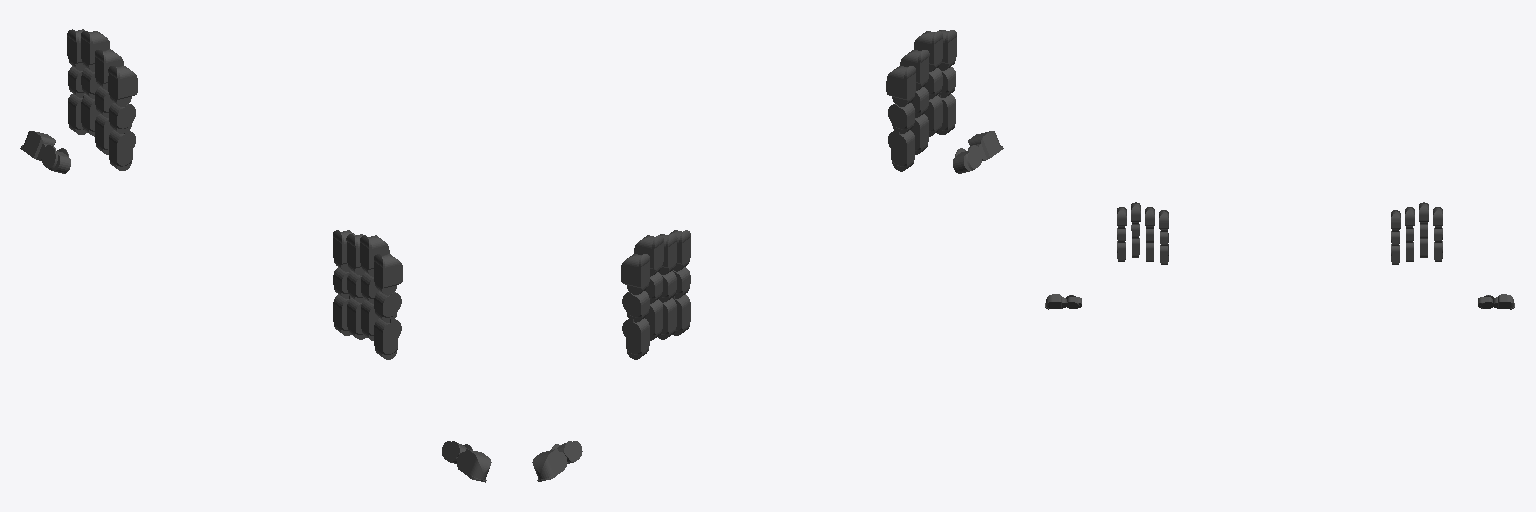
--- Render facts (derived) ---
The picture shows the robot from 3 angles, left to right: view 1: azimuth 30°, elevation 25°; view 2: azimuth 150°, elevation 25°; view 3: azimuth 270°, elevation 25°; orthographic projection.
Model softhand with 71 links and 70 joints (66 revolute, 4 fixed), rooted at world, posed all joints at 0.
Links seen in each view (by area): view 1: right_hand_v1_2_research_little_distal_link, left_hand_v1_2_research_index_distal_link, left_hand_v1_2_research_index_proximal_link, right_hand_v1_2_research_little_proximal_link, left_hand_v1_2_research_thumb_distal_link, left_hand_v1_2_research_middle_distal_link, right_hand_v1_2_research_middle_distal_link, right_hand_v1_2_research_ring_distal_link, left_hand_v1_2_research_index_middle_link, right_hand_v1_2_research_little_middle_link, right_hand_v1_2_research_thumb_proximal_link, right_hand_v1_2_research_thumb_distal_link (+3 smaller); view 2: left_hand_v1_2_research_little_distal_link, right_hand_v1_2_research_index_distal_link, right_hand_v1_2_research_index_proximal_link, left_hand_v1_2_research_little_proximal_link, right_hand_v1_2_research_thumb_distal_link, right_hand_v1_2_research_middle_distal_link, left_hand_v1_2_research_middle_distal_link, left_hand_v1_2_research_ring_distal_link, right_hand_v1_2_research_index_middle_link, left_hand_v1_2_research_little_middle_link, left_hand_v1_2_research_thumb_proximal_link, left_hand_v1_2_research_thumb_distal_link (+2 smaller); view 3: none.
Link boxes in pixels (x1,y1,x2,y2): right_hand_v1_2_research_little_distal_link: [108, 66, 137, 106]; left_hand_v1_2_research_index_distal_link: [374, 254, 402, 295]; left_hand_v1_2_research_index_proximal_link: [374, 318, 401, 359]; right_hand_v1_2_research_little_proximal_link: [109, 130, 135, 170]; left_hand_v1_2_research_thumb_distal_link: [457, 449, 491, 482]; left_hand_v1_2_research_middle_distal_link: [360, 235, 389, 276]; right_hand_v1_2_research_middle_distal_link: [81, 31, 109, 71]; right_hand_v1_2_research_ring_distal_link: [95, 49, 123, 90]; left_hand_v1_2_research_index_middle_link: [374, 291, 401, 322]; right_hand_v1_2_research_little_middle_link: [109, 103, 135, 133]; right_hand_v1_2_research_thumb_proximal_link: [42, 145, 70, 173]; right_hand_v1_2_research_thumb_distal_link: [20, 131, 55, 160]; left_hand_v1_2_research_little_distal_link: [886, 66, 915, 106]; right_hand_v1_2_research_index_distal_link: [621, 254, 649, 294]; right_hand_v1_2_research_index_proximal_link: [622, 318, 649, 359]; left_hand_v1_2_research_little_proximal_link: [888, 130, 914, 171]; right_hand_v1_2_research_thumb_distal_link: [532, 449, 567, 481]; right_hand_v1_2_research_middle_distal_link: [634, 235, 663, 276]; left_hand_v1_2_research_middle_distal_link: [914, 31, 942, 71]; left_hand_v1_2_research_ring_distal_link: [900, 50, 929, 90]; right_hand_v1_2_research_index_middle_link: [622, 291, 649, 322]; left_hand_v1_2_research_little_middle_link: [888, 103, 914, 133]; left_hand_v1_2_research_thumb_proximal_link: [953, 145, 981, 173]; left_hand_v1_2_research_thumb_distal_link: [968, 131, 1003, 160].
Size in the robot's own frame: 0.0373 by 0.6687 by 0.1549 metres.
28 mesh visuals loaded from 14 distinct referenced files (3 binary STL); not drawn: 14 (reference not matched to a file when rendering).

URDF robot description (softhand):
<?xml version="1.0" ?>
<!-- =================================================================================== -->
<!-- |    This document was autogenerated by xacro from softhands.urdf.xacro           | -->
<!-- |    EDITING THIS FILE BY HAND IS NOT RECOMMENDED                                 | -->
<!-- =================================================================================== -->
<!-- 
 *  Software License Agreement: BSD 3-Clause License
 *
 * Copyright (c) 2021, NMMI
 * All rights reserved.
 *
 * Redistribution and use in source and binary forms, with or without
 * modification, are permitted provided that the following conditions are met:
 *
 * Redistributions of source code must retain the above copyright notice, this
 * list of conditions and the following disclaimer.
 *
 * Redistributions in binary form must reproduce the above copyright notice,
 * this list of conditions and the following disclaimer in the documentation
 * and/or other materials provided with the distribution.
 *
 * Neither the name of the copyright holder nor the names of its
 * contributors may be used to endorse or promote products derived from
 * this software without specific prior written permission.
 *
 * THIS SOFTWARE IS PROVIDED BY THE COPYRIGHT HOLDERS AND CONTRIBUTORS "AS IS"
 * AND ANY EXPRESS OR IMPLIED WARRANTIES, INCLUDING, BUT NOT LIMITED TO, THE
 * IMPLIED WARRANTIES OF MERCHANTABILITY AND FITNESS FOR A PARTICULAR PURPOSE ARE
 * DISCLAIMED. IN NO EVENT SHALL THE COPYRIGHT HOLDER OR CONTRIBUTORS BE LIABLE
 * FOR ANY DIRECT, INDIRECT, INCIDENTAL, SPECIAL, EXEMPLARY, OR CONSEQUENTIAL
 * DAMAGES (INCLUDING, BUT NOT LIMITED TO, PROCUREMENT OF SUBSTITUTE GOODS OR
 * SERVICES; LOSS OF USE, DATA, OR PROFITS; OR BUSINESS INTERRUPTION) HOWEVER
 * CAUSED AND ON ANY THEORY OF LIABILITY, WHETHER IN CONTRACT, STRICT LIABILITY,
 * OR TORT (INCLUDING NEGLIGENCE OR OTHERWISE) ARISING IN ANY WAY OUT OF THE USE
 * OF THIS SOFTWARE, EVEN IF ADVISED OF THE POSSIBILITY OF SUCH DAMAGE.
 *
 * \file      test_SHs_v2.urdf.xacro
 *
 * \author       _Centro di Ricerca "E.Piaggio"_
 * \author       _Istituto Italiano di Tecnologia, Soft Robotics for Human Cooperation and Rehabilitation Lab_
 *
-->
<robot name="softhand">
  <material name="qbhand/optional">
    <color rgba="0.0 0.5 0.8 1.0"/>
  </material>
  <material name="qbhand/base">
    <color rgba="0.35 0.35 0.35 1.0"/>
  </material>
  <material name="qbhand/palm">
    <color rgba="0.35 0.35 0.35 1.0"/>
  </material>
  <material name="qbhand/knuckle">
    <color rgba="0.35 0.35 0.35 1.0"/>
  </material>
  <material name="qbhand/proximal">
    <color rgba="0.35 0.35 0.35 1.0"/>
  </material>
  <material name="qbhand/middle">
    <color rgba="0.35 0.35 0.35 1.0"/>
  </material>
  <material name="qbhand/distal">
    <color rgba="0.35 0.35 0.35 1.0"/>
  </material>
  <material name="qbhand/default">
    <color rgba="0.35 0.35 0.35 1.0"/>
  </material>
  <!-- If you are using only the hand -->
  <link name="world"/>
  <gazebo>
    <plugin filename="libsofthand_mimic_plugin.so" name="synergy_plugin">
      <namespace>left_hand_v1_2_research</namespace>
      <operation_mode>0</operation_mode>
      <spring_k>5</spring_k>
      <wide>False</wide>
      <r_finger>0.0033</r_finger>
      <R_pulley>0.0053</R_pulley>
      <n_param>0.058</n_param>
      <synS_thumb_j1>3</synS_thumb_j1>
      <synS_thumb_j2>1.2</synS_thumb_j2>
      <synS_thumb_j3>1.2</synS_thumb_j3>
      <k_thumb_j1>0.8</k_thumb_j1>
      <k_thumb_j2>0.8</k_thumb_j2>
      <k_thumb_j3>0.8</k_thumb_j3>
      <synS_index_j1>-0.3</synS_index_j1>
      <synS_index_j2>1.57</synS_index_j2>
      <synS_index_j3>1.25</synS_index_j3>
      <synS_index_j4>0.8</synS_index_j4>
      <k_index_j1>0.15</k_index_j1>
      <k_index_j2>0.5</k_index_j2>
      <k_index_j3>0.5</k_index_j3>
      <k_index_j4>0.5</k_index_j4>
      <synS_middle_j1>0</synS_middle_j1>
      <synS_middle_j2>1.57</synS_middle_j2>
      <synS_middle_j3>1.25</synS_middle_j3>
      <synS_middle_j4>1.25</synS_middle_j4>
      <k_middle_j1>0.15</k_middle_j1>
      <k_middle_j2>0.5</k_middle_j2>
      <k_middle_j3>0.5</k_middle_j3>
      <k_middle_j4>0.5</k_middle_j4>
      <synS_ring_j1>0</synS_ring_j1>
      <synS_ring_j2>1.57</synS_ring_j2>
      <synS_ring_j3>1.0</synS_ring_j3>
      <synS_ring_j4>1.0</synS_ring_j4>
      <k_ring_j1>0.15</k_ring_j1>
      <k_ring_j2>0.5</k_ring_j2>
      <k_ring_j3>0.5</k_ring_j3>
      <k_ring_j4>0.5</k_ring_j4>
      <synS_little_j1>0.1</synS_little_j1>
      <synS_little_j2>1.57</synS_little_j2>
      <synS_little_j3>1.25</synS_little_j3>
      <synS_little_j4>1.0</synS_little_j4>
      <k_little_j1>0.15</k_little_j1>
      <k_little_j2>0.5</k_little_j2>
      <k_little_j3>0.5</k_little_j3>
      <k_little_j4>0.5</k_little_j4>
      <!-- Palm thumb -->
      <synS_palm_j1>1.57</synS_palm_j1>
      <k_palm_j1>0.5</k_palm_j1>
      <k_palm_j1_mimic>0.5</k_palm_j1_mimic>
      <!-- Palm little -->
      <synS_palm_j2>1.57</synS_palm_j2>
      <k_palm_j2>0.5</k_palm_j2>
      <k_palm_j2_mimic>0.5</k_palm_j2_mimic>
    </plugin>
  </gazebo>
  <!-- World to palm base -->
  <joint name="left_hand_v1_2_research_iso_joint" type="fixed">
    <parent link="world"/>
    <child link="left_hand_v1_2_research_iso_link"/>
    <origin rpy="0 0 -1.57" xyz="0 -0.2 0.02"/>
  </joint>
  <link name="left_hand_v1_2_research_iso_link">
    <inertial>
      <mass value="0.205"/>
      <origin rpy="0 0 0" xyz="0.0 7.8738498e-04 1.5878899e-02"/>
      <inertia ixx="0.00012506929" ixy="0.0" ixz="0.0" iyy="0.0001338779" iyz="0.0" izz="0.00019218394"/>
    </inertial>
    <visual>
      <origin rpy="0 0 0" xyz="0 0 0"/>
      <geometry>
        <mesh filename="package://softhands_description/meshes/v1_2_research/left/flange_iso_04.stl" scale="0.001 0.001 0.001"/>
      </geometry>
      <material name="qbhand/base"/>
    </visual>
    <collision>
      <origin rpy="0 0 0" xyz="0 0 0"/>
      <geometry>
        <mesh filename="package://softhands_description/meshes/v1_2_research/left/flange_iso_04.stl" scale="0.001 0.001 0.001"/>
      </geometry>
    </collision>
  </link>
  <gazebo reference="left_hand_v1_2_research_iso_link">
    <material>Gazebo/Grey</material>
    <selfCollide>0</selfCollide>
  </gazebo>
  <joint name="left_hand_v1_2_research_palm_joint" type="fixed">
    <origin rpy="1.57 0  3.14" xyz="0.0045 0.0145 0.144"/>
    <parent link="left_hand_v1_2_research_iso_link"/>
    <child link="left_hand_v1_2_research_palm_link"/>
  </joint>
  <link name="left_hand_v1_2_research_palm_link">
    <inertial>
      <origin rpy="0 0 0" xyz="0.0030 -0.0449 -0.0135"/>
      <mass value="0.45"/>
      <inertia ixx="0.00045" ixy="0.0" ixz="0.0" iyy="0.00025" iyz="0.0" izz="0.0006"/>
    </inertial>
    <visual>
      <origin rpy="0 0 0" xyz="0 0 0"/>
      <geometry>
        <mesh filename="package://softhands_description/meshes/v1_2_research/left/palm_pinch.stl" scale="0.001 0.001 0.001"/>
      </geometry>
      <material name="qbhand/palm"/>
    </visual>
    <collision>
      <origin rpy="0 0 0" xyz="0 0 0"/>
      <geometry>
        <mesh filename="package://softhands_description/meshes/v1_2_research/left/palm_pinch.stl" scale="0.001 0.001 0.001"/>
      </geometry>
    </collision>
  </link>
  <gazebo reference="left_hand_v1_2_research_palm_link">
    <material>Gazebo/Grey</material>
    <selfCollide>0</selfCollide>
  </gazebo>
  <!-- Proximal JOINT -->
  <joint name="left_hand_v1_2_research_thumb_knuckle_joint" type="revolute">
    <origin rpy="-1.57 3.14 0.0" xyz="-0.044 -0.0465 0.002"/>
    <parent link="left_hand_v1_2_research_palm_link"/>
    <child link="left_hand_v1_2_research_thumb_knuckle_link"/>
    <axis xyz="0 0 1"/>
    <limit effort="30" lower="0.0" upper="1.57" velocity="10.0"/>
    <dynamics damping="3e-2" friction="0.0"/>
  </joint>
  <!-- LINK -->
  <link name="left_hand_v1_2_research_thumb_knuckle_link">
    <inertial>
      <origin rpy="0 0 0" xyz="1.3071561e-02 0.002734634 6.4090487e-04"/>
      <mass value="0.01"/>
      <inertia ixx="3.5865978e-07" ixy="-2.0944224e-07" ixz="-6.8657569e-08" iyy="1.3885564e-06" iyz="-3.2170608e-08" izz="1.3571203e-06"/>
    </inertial>
    <visual>
      <origin rpy="0 0 0" xyz="0 0 0"/>
      <geometry>
        <mesh filename="package://softhands_description/meshes/v1_2_research/left/ph_thumb.stl" scale="0.001 0.001 0.001"/>
      </geometry>
      <material name="qbhand/knuckle"/>
    </visual>
    <collision>
      <origin rpy="0 0 0" xyz="0 0 0"/>
      <geometry>
        <mesh filename="package://softhands_description/meshes/v1_2_research/left/ph_thumb.stl" scale="0.001 0.001 0.001"/>
      </geometry>
    </collision>
  </link>
  <!-- GAZEBO REF -->
  <gazebo reference="left_hand_v1_2_research_thumb_knuckle_link">
    <material>Gazebo/Grey</material>
    <selfCollide>0</selfCollide>
  </gazebo>
  <!-- GAZEBO REF -->
  <gazebo reference="left_hand_v1_2_research_thumb_knuckle_joint">
    <implicitSpringDamper>true</implicitSpringDamper>
    <springStiffness>0.4</springStiffness>
    <springReference>0</springReference>
  </gazebo>
  <!-- Inner VIRTUAL JOINT -->
  <joint name="left_hand_v1_2_research_thumb_proximal_virtual_joint" type="revolute">
    <axis xyz="0 0 -1"/>
    <origin rpy="-2 0.0 0.0" xyz="0.0255 0.0038 -0.00012"/>
    <parent link="left_hand_v1_2_research_thumb_knuckle_link"/>
    <child link="left_hand_v1_2_research_thumb_proximal_virtual_link"/>
    <limit effort="30" lower="0.0" upper="0.785398" velocity="10.0"/>
    <dynamics damping="3e-2" friction="0.0"/>
  </joint>
  <!-- VIRTUAL LINK -->
  <link name="left_hand_v1_2_research_thumb_proximal_virtual_link">
    <inertial>
      <origin rpy="0 0 0" xyz="0 0 0"/>
      <mass value="0.0063"/>
      <inertia ixx="1.8024201e-07" ixy="5.756798e-09" ixz="0.0" iyy="2.3516266e-07" iyz="0.0" izz="2.691504e-07"/>
    </inertial>
  </link>
  <!-- Outer JOINT -->
  <joint name="left_hand_v1_2_research_thumb_proximal_joint" type="revolute">
    <axis xyz="0 0 -1"/>
    <origin rpy="0 0 0" xyz="0.013 0 0"/>
    <parent link="left_hand_v1_2_research_thumb_proximal_virtual_link"/>
    <child link="left_hand_v1_2_research_thumb_proximal_link"/>
    <limit effort="30" lower="0.0" upper="0.785398" velocity="10.0"/>
    <dynamics damping="3e-2" friction="0.0"/>
  </joint>
  <!-- LINK -->
  <link name="left_hand_v1_2_research_thumb_proximal_link">
    <inertial>
      <mass value="0.0063"/>
      <inertia ixx="1.8024201e-07" ixy="5.756798e-09" ixz="0.0" iyy="2.3516266e-07" iyz="0.0" izz="2.691504e-07"/>
      <origin rpy="0 0 0" xyz="4.7601567e-03 -1.3786947e-03 0.0"/>
    </inertial>
    <visual>
      <origin rpy="0 0 0" xyz="0 0 0"/>
      <geometry>
        <mesh filename="package://softhands_description/meshes/v1_2_research/left/ph_short.stl" scale="0.001 0.001 0.001"/>
      </geometry>
      <material name="qbhand/palm"/>
    </visual>
    <collision>
      <origin rpy="0 0 0" xyz="0 0 0"/>
      <geometry>
        <mesh filename="package://softhands_description/meshes/v1_2_research/left/ph_short.stl" scale="0.001 0.001 0.001"/>
      </geometry>
    </collision>
  </link>
  <!-- GAZEBO REF -->
  <gazebo reference="left_hand_v1_2_research_thumb_proximal_link">
    <material>Gazebo/Grey</material>
    <selfCollide>0</selfCollide>
  </gazebo>
  <!-- GAZEBO REF -->
  <gazebo reference="left_hand_v1_2_research_thumb_proximal_joint">
    <implicitSpringDamper>true</implicitSpringDamper>
    <springStiffness>0.4</springStiffness>
    <springReference>0</springReference>
  </gazebo>
  <!-- GAZEBO REF -->
  <gazebo reference="left_hand_v1_2_research_thumb_proximal_virtual_joint">
    <implicitSpringDamper>true</implicitSpringDamper>
    <springStiffness>0.4</springStiffness>
    <springReference>0</springReference>
  </gazebo>
  <!-- Inner VIRTUAL JOINT -->
  <joint name="left_hand_v1_2_research_thumb_distal_virtual_joint" type="revolute">
    <axis xyz="0 0 -1"/>
    <origin rpy="0 0 0" xyz="0.009 0 0"/>
    <parent link="left_hand_v1_2_research_thumb_proximal_link"/>
    <child link="left_hand_v1_2_research_thumb_distal_virtual_link"/>
    <limit effort="30" lower="0.0" upper="0.785398" velocity="10.0"/>
    <dynamics damping="3e-2" friction="0.0"/>
  </joint>
  <!-- VIRTUAL LINK -->
  <link name="left_hand_v1_2_research_thumb_distal_virtual_link">
    <inertial>
      <origin rpy="0 0 0" xyz="0 0 0"/>
      <mass value="0.009"/>
      <inertia ixx="2.6586142e-07" ixy="1.2416847e-08" ixz="0.0" iyy="5.9935767e-07" iyz="0.0" izz="6.6781963e-07"/>
    </inertial>
  </link>
  <!-- Outer JOINT -->
  <joint name="left_hand_v1_2_research_thumb_distal_joint" type="revolute">
    <axis xyz="0 0 -1"/>
    <origin rpy="0 0 0" xyz="0.013 0 0"/>
    <parent link="left_hand_v1_2_research_thumb_distal_virtual_link"/>
    <child link="left_hand_v1_2_research_thumb_distal_link"/>
    <limit effort="30" lower="0.0" upper="0.785398" velocity="10.0"/>
    <dynamics damping="3e-2" friction="0.0"/>
  </joint>
  <!-- LINK -->
  <link name="left_hand_v1_2_research_thumb_distal_link">
    <inertial>
      <mass value="0.009"/>
      <inertia ixx="2.6586142e-07" ixy="1.2416847e-08" ixz="0.0" iyy="5.9935767e-07" iyz="0.0" izz="6.6781963e-07"/>
      <origin rpy="0 0 0" xyz="8.8025467e-03 -1.7219289e-03 0.0"/>
    </inertial>
    <visual>
      <origin rpy="0 0 0" xyz="0 0 0"/>
      <geometry>
        <mesh filename="package://softhands_description/meshes/v1_2_research/left/ph_distal.stl" scale="0.001 0.001 0.001"/>
      </geometry>
      <material name="qbhand/palm"/>
    </visual>
    <collision>
      <origin rpy="0 0 0" xyz="0 0 0"/>
      <geometry>
        <mesh filename="package://softhands_description/meshes/v1_2_research/left/ph_distal.stl" scale="0.001 0.001 0.001"/>
      </geometry>
    </collision>
  </link>
  <!-- GAZEBO REF -->
  <gazebo reference="left_hand_v1_2_research_thumb_distal_link">
    <material>Gazebo/Grey</material>
    <selfCollide>0</selfCollide>
  </gazebo>
  <!-- GAZEBO REF -->
  <gazebo reference="left_hand_v1_2_research_thumb_distal_joint">
    <implicitSpringDamper>true</implicitSpringDamper>
    <springStiffness>0.4</springStiffness>
    <springReference>0</springReference>
  </gazebo>
  <!-- GAZEBO REF -->
  <gazebo reference="left_hand_v1_2_research_thumb_distal_virtual_joint">
    <implicitSpringDamper>true</implicitSpringDamper>
    <springStiffness>0.4</springStiffness>
    <springReference>0</springReference>
  </gazebo>
  <!-- Proximal JOINT -->
  <joint name="left_hand_v1_2_research_index_knuckle_joint" type="revolute">
    <origin rpy="0 3.14 -1.57" xyz="-0.02 -0.007 -0.014"/>
    <parent link="left_hand_v1_2_research_palm_link"/>
    <child link="left_hand_v1_2_research_index_knuckle_link"/>
    <axis xyz="0 0 -1"/>
    <limit effort="30" lower="-0.524" upper="0.524" velocity="10.0"/>
    <dynamics damping="3e-2" friction="0.0"/>
  </joint>
  <!-- LINK -->
  <link name="left_hand_v1_2_research_index_knuckle_link">
    <inertial>
      <origin rpy="0 0 0" xyz="4.2753603e-04  0.0 -1.4321738e-03"/>
      <mass value="0.0095"/>
      <inertia ixx="6.4337303e-07" ixy="0.0" ixz="-3.9373913e-08" iyy="1.1253771e-06" iyz="0.0" izz="7.2336948e-07"/>
    </inertial>
    <visual>
      <origin rpy="0 0 0" xyz="0 0 0"/>
      <geometry>
        <mesh filename="package://softhands_description/meshes/v1_2_research/left/ph_knuckle.stl" scale="0.001 0.001 0.001"/>
      </geometry>
      <material name="qbhand/palm"/>
    </visual>
    <collision>
      <origin rpy="0 0 0" xyz="0 0 0"/>
      <geometry>
        <mesh filename="package://softhands_description/meshes/v1_2_research/left/ph_knuckle.stl" scale="0.001 0.001 0.001"/>
      </geometry>
    </collision>
  </link>
  <!-- GAZEBO REF -->
  <gazebo reference="left_hand_v1_2_research_index_knuckle_link">
    <material>Gazebo/Grey</material>
    <selfCollide>0</selfCollide>
  </gazebo>
  <!-- GAZEBO REF -->
  <gazebo reference="left_hand_v1_2_research_index_knuckle_joint">
    <implicitSpringDamper>true</implicitSpringDamper>
    <springStiffness>0.8</springStiffness>
    <springReference>0</springReference>
  </gazebo>
  <!-- Inner VIRTUAL JOINT -->
  <joint name="left_hand_v1_2_research_index_proximal_virtual_joint" type="revolute">
    <axis xyz="0 0 -1"/>
    <origin rpy="1.57 0 0" xyz="0.009 0 0"/>
    <parent link="left_hand_v1_2_research_index_knuckle_link"/>
    <child link="left_hand_v1_2_research_index_proximal_virtual_link"/>
    <limit effort="30" lower="0.0" upper="0.785398" velocity="10.0"/>
    <dynamics damping="3e-2" friction="0.0"/>
  </joint>
  <!-- VIRTUAL LINK -->
  <link name="left_hand_v1_2_research_index_proximal_virtual_link">
    <inertial>
      <origin rpy="0 0 0" xyz="0 0 0"/>
      <mass value="0.009"/>
      <inertia ixx="2.2722068e-07" ixy="1.1586053e-08" ixz="0.0" iyy="5.5947233e-07" iyz="0.0" izz="5.9562195e-07"/>
    </inertial>
  </link>
  <!-- Outer JOINT -->
  <joint name="left_hand_v1_2_research_index_proximal_joint" type="revolute">
    <axis xyz="0 0 -1"/>
    <origin rpy="0.0 0 0" xyz="0.013 0 0"/>
    <parent link="left_hand_v1_2_research_index_proximal_virtual_link"/>
    <child link="left_hand_v1_2_research_index_proximal_link"/>
    <limit effort="30" lower="0.0" upper="0.785398" velocity="10.0"/>
    <dynamics damping="3e-2" friction="0.0"/>
  </joint>
  <!-- LINK -->
  <link name="left_hand_v1_2_research_index_proximal_link">
    <inertial>
      <mass value="0.009"/>
      <inertia ixx="2.2722068e-07" ixy="1.1586053e-08" ixz="0.0" iyy="5.5947233e-07" iyz="0.0" izz="5.9562195e-07"/>
      <origin rpy="0 0 0" xyz="8.7707437e-03 -1.7863138e-03 0.0"/>
    </inertial>
    <visual>
      <origin rpy="0 0 0" xyz="0 0 0"/>
      <geometry>
        <mesh filename="package://softhands_description/meshes/v1_2_research/left/ph_medium.stl" scale="0.001 0.001 0.001"/>
      </geometry>
      <material name="qbhand/palm"/>
    </visual>
    <collision>
      <origin rpy="0 0 0" xyz="0 0 0"/>
      <geometry>
        <mesh filename="package://softhands_description/meshes/v1_2_research/left/ph_medium.stl" scale="0.001 0.001 0.001"/>
      </geometry>
    </collision>
  </link>
  <!-- GAZEBO REF -->
  <gazebo reference="left_hand_v1_2_research_index_proximal_link">
    <material>Gazebo/Grey</material>
    <selfCollide>0</selfCollide>
  </gazebo>
  <!-- GAZEBO REF -->
  <gazebo reference="left_hand_v1_2_research_index_proximal_joint">
    <implicitSpringDamper>true</implicitSpringDamper>
    <springStiffness>0.4</springStiffness>
    <springReference>0</springReference>
  </gazebo>
  <!-- GAZEBO REF -->
  <gazebo reference="left_hand_v1_2_research_index_proximal_virtual_joint">
    <implicitSpringDamper>true</implicitSpringDamper>
    <springStiffness>0.4</springStiffness>
    <springReference>0</springReference>
  </gazebo>
  <!-- Inner VIRTUAL JOINT -->
  <joint name="left_hand_v1_2_research_index_middle_virtual_joint" type="revolute">
    <axis xyz="0 0 -1"/>
    <origin rpy="0.0 0.0 0.0" xyz="0.013 0 0 "/>
    <parent link="left_hand_v1_2_research_index_proximal_link"/>
    <child link="left_hand_v1_2_research_index_middle_virtual_link"/>
    <limit effort="30" lower="0.0" upper="0.785398" velocity="10.0"/>
    <dynamics damping="3e-2" friction="0.0"/>
  </joint>
  <!-- VIRTUAL LINK -->
  <link name="left_hand_v1_2_research_index_middle_virtual_link">
    <inertial>
      <origin rpy="0 0 0" xyz="0 0 0"/>
      <mass value="0.0063"/>
      <inertia ixx="1.8024201e-07" ixy="5.756798e-09" ixz="0.0" iyy="2.3516266e-07" iyz="0.0" izz="2.691504e-07"/>
    </inertial>
  </link>
  <!-- Outer JOINT -->
  <joint name="left_hand_v1_2_research_index_middle_joint" type="revolute">
    <axis xyz="0 0 -1"/>
    <origin rpy="0 0 0" xyz="0.017 0 0"/>
    <parent link="left_hand_v1_2_research_index_middle_virtual_link"/>
    <child link="left_hand_v1_2_research_index_middle_link"/>
    <limit effort="30" lower="0.0" upper="0.785398" velocity="10.0"/>
    <dynamics damping="3e-2" friction="0.0"/>
  </joint>
  <!-- LINK -->
  <link name="left_hand_v1_2_research_index_middle_link">
    <inertial>
      <mass value="0.0063"/>
      <inertia ixx="1.8024201e-07" ixy="5.756798e-09" ixz="0.0" iyy="2.3516266e-07" iyz="0.0" izz="2.691504e-07"/>
      <origin rpy="0 0 0" xyz="4.7601567e-03 -1.3786947e-03 0.0"/>
    </inertial>
    <visual>
      <origin rpy="0 0 0" xyz="0 0 0"/>
      <geometry>
        <mesh filename="package://softhands_description/meshes/v1_2_research/left/ph_short.stl" scale="0.001 0.001 0.001"/>
      </geometry>
      <material name="qbhand/palm"/>
    </visual>
    <collision>
      <origin rpy="0 0 0" xyz="0 0 0"/>
      <geometry>
        <mesh filename="package://softhands_description/meshes/v1_2_research/left/ph_short.stl" scale="0.001 0.001 0.001"/>
      </geometry>
    </collision>
  </link>
  <!-- GAZEBO REF -->
  <gazebo reference="left_hand_v1_2_research_index_middle_link">
    <material>Gazebo/Grey</material>
    <selfCollide>0</selfCollide>
  </gazebo>
  <!-- GAZEBO REF -->
  <gazebo reference="left_hand_v1_2_research_index_middle_joint">
    <implicitSpringDamper>true</implicitSpringDamper>
    <springStiffness>0.4</springStiffness>
    <springReference>0</springReference>
  </gazebo>
  <!-- GAZEBO REF -->
  <gazebo reference="left_hand_v1_2_research_index_middle_virtual_joint">
    <implicitSpringDamper>true</implicitSpringDamper>
    <springStiffness>0.4</springStiffness>
    <springReference>0</springReference>
  </gazebo>
  <!-- Inner VIRTUAL JOINT -->
  <joint name="left_hand_v1_2_research_index_distal_virtual_joint" type="revolute">
    <axis xyz="0 0 -1"/>
    <origin rpy="0 0 0" xyz="0.009 0 0"/>
    <parent link="left_hand_v1_2_research_index_middle_link"/>
    <child link="left_hand_v1_2_research_index_distal_virtual_link"/>
    <limit effort="30" lower="0.0" upper="0.785398" velocity="10.0"/>
    <dynamics damping="3e-2" friction="0.0"/>
  </joint>
  <!-- VIRTUAL LINK -->
  <link name="left_hand_v1_2_research_index_distal_virtual_link">
    <inertial>
      <origin rpy="0 0 0" xyz="0 0 0"/>
      <mass value="0.009"/>
      <inertia ixx="2.6586142e-07" ixy="1.2416847e-08" ixz="0.0" iyy="5.9935767e-07" iyz="0.0" izz="6.6781963e-07"/>
    </inertial>
  </link>
  <!-- Outer JOINT -->
  <joint name="left_hand_v1_2_research_index_distal_joint" type="revolute">
    <axis xyz="0 0 -1"/>
    <origin rpy="0 0 0" xyz="0.013 0 0"/>
    <parent link="left_hand_v1_2_research_index_distal_virtual_link"/>
    <child link="left_hand_v1_2_research_index_distal_link"/>
    <limit effort="30" lower="0.0" upper="0.785398" velocity="10.0"/>
    <dynamics damping="3e-2" friction="0.0"/>
  </joint>
  <!-- LINK -->
  <link name="left_hand_v1_2_research_index_distal_link">
    <inertial>
      <mass value="0.009"/>
      <inertia ixx="2.6586142e-07" ixy="1.2416847e-08" ixz="0.0" iyy="5.9935767e-07" iyz="0.0" izz="6.6781963e-07"/>
      <origin rpy="0 0 0" xyz="8.8025467e-03 -1.7219289e-03 0.0"/>
    </inertial>
    <visual>
      <origin rpy="0 0 0" xyz="0 0 0"/>
      <geometry>
        <mesh filename="package://softhands_description/meshes/v1_2_research/left/ph_distal.stl" scale="0.001 0.001 0.001"/>
      </geometry>
      <material name="qbhand/palm"/>
    </visual>
    <collision>
      <origin rpy="0 0 0" xyz="0 0 0"/>
      <geometry>
        <mesh filename="package://softhands_description/meshes/v1_2_research/left/ph_distal.stl" scale="0.001 0.001 0.001"/>
      </geometry>
    </collision>
  </link>
  <!-- GAZEBO REF -->
  <gazebo reference="left_hand_v1_2_research_index_distal_link">
    <material>Gazebo/Grey</material>
    <selfCollide>0</selfCollide>
  </gazebo>
  <!-- GAZEBO REF -->
  <gazebo reference="left_hand_v1_2_research_index_distal_joint">
    <implicitSpringDamper>true</implicitSpringDamper>
    <springStiffness>0.4</springStiffness>
    <springReference>0</springReference>
  </gazebo>
  <!-- GAZEBO REF -->
  <gazebo reference="left_hand_v1_2_research_index_distal_virtual_joint">
    <implicitSpringDamper>true</implicitSpringDamper>
    <springStiffness>0.4</springStiffness>
    <springReference>0</springReference>
  </gazebo>
  <!-- Proximal JOINT -->
  <joint name="left_hand_v1_2_research_middle_knuckle_joint" type="revolute">
    <origin rpy="0 3.14 -1.57" xyz="0 0 -0.014"/>
    <parent link="left_hand_v1_2_research_palm_link"/>
    <child link="left_hand_v1_2_research_middle_knuckle_link"/>
    <axis xyz="0 0 -1"/>
    <limit effort="30" lower="-0.524" upper="0.524" velocity="10.0"/>
    <dynamics damping="3e-2" friction="0.0"/>
  </joint>
  <!-- LINK -->
  <link name="left_hand_v1_2_research_middle_knuckle_link">
    <inertial>
      <origin rpy="0 0 0" xyz="4.2753603e-04  0.0 -1.4321738e-03"/>
      <mass value="0.0095"/>
      <inertia ixx="6.4337303e-07" ixy="0.0" ixz="-3.9373913e-08" iyy="1.1253771e-06" iyz="0.0" izz="7.2336948e-07"/>
    </inertial>
    <visual>
      <origin rpy="0 0 0" xyz="0 0 0"/>
      <geometry>
        <mesh filename="package://softhands_description/meshes/v1_2_research/left/ph_knuckle.stl" scale="0.001 0.001 0.001"/>
      </geometry>
      <material name="qbhand/palm"/>
    </visual>
    <collision>
      <origin rpy="0 0 0" xyz="0 0 0"/>
      <geometry>
        <mesh filename="package://softhands_description/meshes/v1_2_research/left/ph_knuckle.stl" scale="0.001 0.001 0.001"/>
      </geometry>
    </collision>
  </link>
  <!-- GAZEBO REF -->
  <gazebo reference="left_hand_v1_2_research_middle_knuckle_link">
    <material>Gazebo/Grey</material>
    <selfCollide>0</selfCollide>
  </gazebo>
  <!-- GAZEBO REF -->
  <gazebo reference="left_hand_v1_2_research_middle_knuckle_joint">
    <implicitSpringDamper>true</implicitSpringDamper>
    <springStiffness>0.8</springStiffness>
    <springReference>0</springReference>
  </gazebo>
  <!-- Inner VIRTUAL JOINT -->
  <joint name="left_hand_v1_2_research_middle_proximal_virtual_joint" type="revolute">
    <axis xyz="0 0 -1"/>
    <origin rpy="1.57 0 0" xyz="0.009 0 0"/>
    <parent link="left_hand_v1_2_research_middle_knuckle_link"/>
    <child link="left_hand_v1_2_research_middle_proximal_virtual_link"/>
    <limit effort="30" lower="0.0" upper="0.785398" velocity="10.0"/>
    <dynamics damping="3e-2" friction="0.0"/>
  </joint>
  <!-- VIRTUAL LINK -->
  <link name="left_hand_v1_2_research_middle_proximal_virtual_link">
    <inertial>
      <origin rpy="0 0 0" xyz="0 0 0"/>
      <mass value="0.009"/>
      <inertia ixx="2.2722068e-07" ixy="1.1586053e-08" ixz="0.0" iyy="5.5947233e-07" iyz="0.0" izz="5.9562195e-07"/>
    </inertial>
  </link>
  <!-- Outer JOINT -->
  <joint name="left_hand_v1_2_research_middle_proximal_joint" type="revolute">
    <axis xyz="0 0 -1"/>
    <origin rpy="0.0 0 0" xyz="0.013 0 0"/>
    <parent link="left_hand_v1_2_research_middle_proximal_virtual_link"/>
    <child link="left_hand_v1_2_research_middle_proximal_link"/>
    <limit effort="30" lower="0.0" upper="0.785398" velocity="10.0"/>
    <dynamics damping="3e-2" friction="0.0"/>
  </joint>
  <!-- LINK -->
  <link name="left_hand_v1_2_research_middle_proximal_link">
    <inertial>
      <mass value="0.009"/>
      <inertia ixx="2.2722068e-07" ixy="1.1586053e-08" ixz="0.0" iyy="5.5947233e-07" iyz="0.0" izz="5.9562195e-07"/>
      <origin rpy="0 0 0" xyz="8.7707437e-03 -1.7863138e-03 0.0"/>
    </inertial>
    <visual>
      <origin rpy="0 0 0" xyz="0 0 0"/>
      <geometry>
        <mesh filename="package://softhands_description/meshes/v1_2_research/left/ph_medium.stl" scale="0.001 0.001 0.001"/>
      </geometry>
      <material name="qbhand/palm"/>
    </visual>
    <collision>
      <origin rpy="0 0 0" xyz="0 0 0"/>
      <geometry>
        <mesh filename="package://softhands_description/meshes/v1_2_research/left/ph_medium.stl" scale="0.001 0.001 0.001"/>
      </geometry>
    </collision>
  </link>
  <!-- GAZEBO REF -->
  <gazebo reference="left_hand_v1_2_research_middle_proximal_link">
    <material>Gazebo/Grey</material>
    <selfCollide>0</selfCollide>
  </gazebo>
  <!-- GAZEBO REF -->
  <gazebo reference="left_hand_v1_2_research_middle_proximal_joint">
    <implicitSpringDamper>true</implicitSpringDamper>
    <springStiffness>0.4</springStiffness>
    <springReference>0</springReference>
  </gazebo>
  <!-- GAZEBO REF -->
  <gazebo reference="left_hand_v1_2_research_middle_proximal_virtual_joint">
    <implicitSpringDamper>true</implicitSpringDamper>
    <springStiffness>0.4</springStiffness>
    <springReference>0</springReference>
  </gazebo>
  <!-- Inner VIRTUAL JOINT -->
  <joint name="left_hand_v1_2_research_middle_middle_virtual_joint" type="revolute">
    <axis xyz="0 0 -1"/>
    <origin rpy="0.0 0.0 0.0" xyz="0.013 0 0 "/>
    <parent link="left_hand_v1_2_research_middle_proximal_link"/>
    <child link="left_hand_v1_2_research_middle_middle_virtual_link"/>
    <limit effort="30" lower="0.0" upper="0.785398" velocity="10.0"/>
    <dynamics damping="3e-2" friction="0.0"/>
  </joint>
  <!-- VIRTUAL LINK -->
  <link name="left_hand_v1_2_research_middle_middle_virtual_link">
    <inertial>
      <origin rpy="0 0 0" xyz="0 0 0"/>
      <mass value="0.0063"/>
      <inertia ixx="1.8024201e-07" ixy="5.756798e-09" ixz="0.0" iyy="2.3516266e-07" iyz="0.0" izz="2.691504e-07"/>
    </inertial>
  </link>
  <!-- Outer JOINT -->
  <joint name="left_hand_v1_2_research_middle_middle_joint" type="revolute">
    <axis xyz="0 0 -1"/>
    <origin rpy="0 0 0" xyz="0.017 0 0"/>
    <parent link="left_hand_v1_2_research_middle_middle_virtual_link"/>
    <child link="left_hand_v1_2_research_middle_middle_link"/>
    <limit effort="30" lower="0.0" upper="0.785398" velocity="10.0"/>
    <dynamics damping="3e-2" friction="0.0"/>
  </joint>
  <!-- LINK -->
  <link name="left_hand_v1_2_research_middle_middle_link">
    <inertial>
      <mass value="0.0063"/>
      <inertia ixx="1.8024201e-07" ixy="5.756798e-09" ixz="0.0" iyy="2.3516266e-07" iyz="0.0" izz="2.691504e-07"/>
      <origin rpy="0 0 0" xyz="4.7601567e-03 -1.3786947e-03 0.0"/>
    </inertial>
    <visual>
      <origin rpy="0 0 0" xyz="0 0 0"/>
      <geometry>
        <mesh filename="package://softhands_description/meshes/v1_2_research/left/ph_short.stl" scale="0.001 0.001 0.001"/>
      </geometry>
      <material name="qbhand/palm"/>
    </visual>
    <collision>
      <origin rpy="0 0 0" xyz="0 0 0"/>
      <geometry>
        <mesh filename="package://softhands_description/meshes/v1_2_research/left/ph_short.stl" scale="0.001 0.001 0.001"/>
      </geometry>
    </collision>
  </link>
  <!-- GAZEBO REF -->
  <gazebo reference="left_hand_v1_2_research_middle_middle_link">
    <material>Gazebo/Grey</material>
    <selfCollide>0</selfCollide>
  </gazebo>
  <!-- GAZEBO REF -->
  <gazebo reference="left_hand_v1_2_research_middle_middle_joint">
    <implicitSpringDamper>true</implicitSpringDamper>
    <springStiffness>0.4</springStiffness>
    <springReference>0</springReference>
  </gazebo>
  <!-- GAZEBO REF -->
  <gazebo reference="left_hand_v1_2_research_middle_middle_virtual_joint">
    <implicitSpringDamper>true</implicitSpringDamper>
    <springStiffness>0.4</springStiffness>
    <springReference>0</springReference>
  </gazebo>
  <!-- Inner VIRTUAL JOINT -->
  <joint name="left_hand_v1_2_research_middle_distal_virtual_joint" type="revolute">
    <axis xyz="0 0 -1"/>
    <origin rpy="0 0 0" xyz="0.009 0 0"/>
    <parent link="left_hand_v1_2_research_middle_middle_link"/>
    <child link="left_hand_v1_2_research_middle_distal_virtual_link"/>
    <limit effort="30" lower="0.0" upper="0.785398" velocity="10.0"/>
    <dynamics damping="3e-2" friction="0.0"/>
  </joint>
  <!-- VIRTUAL LINK -->
  <link name="left_hand_v1_2_research_middle_distal_virtual_link">
    <inertial>
      <origin rpy="0 0 0" xyz="0 0 0"/>
      <mass value="0.009"/>
      <inertia ixx="2.6586142e-07" ixy="1.2416847e-08" ixz="0.0" iyy="5.9935767e-07" iyz="0.0" izz="6.6781963e-07"/>
    </inertial>
  </link>
  <!-- Outer JOINT -->
  <joint name="left_hand_v1_2_research_middle_distal_joint" type="revolute">
    <axis xyz="0 0 -1"/>
    <origin rpy="0 0 0" xyz="0.013 0 0"/>
    <parent link="left_hand_v1_2_research_middle_distal_virtual_link"/>
    <child link="left_hand_v1_2_research_middle_distal_link"/>
    <limit effort="30" lower="0.0" upper="0.785398" velocity="10.0"/>
    <dynamics damping="3e-2" friction="0.0"/>
  </joint>
  <!-- LINK -->
  <link name="left_hand_v1_2_research_middle_distal_link">
    <inertial>
      <mass value="0.009"/>
      <inertia ixx="2.6586142e-07" ixy="1.2416847e-08" ixz="0.0" iyy="5.9935767e-07" iyz="0.0" izz="6.6781963e-07"/>
      <origin rpy="0 0 0" xyz="8.8025467e-03 -1.7219289e-03 0.0"/>
    </inertial>
    <visual>
      <origin rpy="0 0 0" xyz="0 0 0"/>
      <geometry>
        <mesh filename="package://softhands_description/meshes/v1_2_research/left/ph_distal.stl" scale="0.001 0.001 0.001"/>
      </geometry>
      <material name="qbhand/palm"/>
    </visual>
    <collision>
      <origin rpy="0 0 0" xyz="0 0 0"/>
      <geometry>
        <mesh filename="package://softhands_description/meshes/v1_2_research/left/ph_distal.stl" scale="0.001 0.001 0.001"/>
      </geometry>
    </collision>
  </link>
  <!-- GAZEBO REF -->
  <gazebo reference="left_hand_v1_2_research_middle_distal_link">
    <material>Gazebo/Grey</material>
    <selfCollide>0</selfCollide>
  </gazebo>
  <!-- GAZEBO REF -->
  <gazebo reference="left_hand_v1_2_research_middle_distal_joint">
    <implicitSpringDamper>true</implicitSpringDamper>
    <springStiffness>0.4</springStiffness>
    <springReference>0</springReference>
  </gazebo>
  <!-- GAZEBO REF -->
  <gazebo reference="left_hand_v1_2_research_middle_distal_virtual_joint">
    <implicitSpringDamper>true</implicitSpringDamper>
    <springStiffness>0.4</springStiffness>
    <springReference>0</springReference>
  </gazebo>
  <!-- Proximal JOINT -->
  <joint name="left_hand_v1_2_research_ring_knuckle_joint" type="revolute">
    <origin rpy="0 3.14 -1.57" xyz="0.02 -0.007 -0.014"/>
    <parent link="left_hand_v1_2_research_palm_link"/>
    <child link="left_hand_v1_2_research_ring_knuckle_link"/>
    <axis xyz="0 0 -1"/>
    <limit effort="30" lower="-0.524" upper="0.524" velocity="10.0"/>
    <dynamics damping="3e-2" friction="0.0"/>
  </joint>
  <!-- LINK -->
  <link name="left_hand_v1_2_research_ring_knuckle_link">
    <inertial>
      <origin rpy="0 0 0" xyz="4.2753603e-04  0.0 -1.4321738e-03"/>
      <mass value="0.0095"/>
      <inertia ixx="6.4337303e-07" ixy="0.0" ixz="-3.9373913e-08" iyy="1.1253771e-06" iyz="0.0" izz="7.2336948e-07"/>
    </inertial>
    <visual>
      <origin rpy="0 0 0" xyz="0 0 0"/>
      <geometry>
        <mesh filename="package://softhands_description/meshes/v1_2_research/left/ph_knuckle.stl" scale="0.001 0.001 0.001"/>
      </geometry>
      <material name="qbhand/palm"/>
    </visual>
    <collision>
      <origin rpy="0 0 0" xyz="0 0 0"/>
      <geometry>
        <mesh filename="package://softhands_description/meshes/v1_2_research/left/ph_knuckle.stl" scale="0.001 0.001 0.001"/>
      </geometry>
    </collision>
  </link>
  <!-- GAZEBO REF -->
  <gazebo reference="left_hand_v1_2_research_ring_knuckle_link">
    <material>Gazebo/Grey</material>
    <selfCollide>0</selfCollide>
  </gazebo>
  <!-- GAZEBO REF -->
  <gazebo reference="left_hand_v1_2_research_ring_knuckle_joint">
    <implicitSpringDamper>true</implicitSpringDamper>
    <springStiffness>0.8</springStiffness>
    <springReference>0</springReference>
  </gazebo>
  <!-- Inner VIRTUAL JOINT -->
  <joint name="left_hand_v1_2_research_ring_proximal_virtual_joint" type="revolute">
    <axis xyz="0 0 -1"/>
    <origin rpy="1.57 0 0" xyz="0.009 0 0"/>
    <parent link="left_hand_v1_2_research_ring_knuckle_link"/>
    <child link="left_hand_v1_2_research_ring_proximal_virtual_link"/>
    <limit effort="30" lower="0.0" upper="0.785398" velocity="10.0"/>
    <dynamics damping="3e-2" friction="0.0"/>
  </joint>
  <!-- VIRTUAL LINK -->
  <link name="left_hand_v1_2_research_ring_proximal_virtual_link">
    <inertial>
      <origin rpy="0 0 0" xyz="0 0 0"/>
      <mass value="0.009"/>
      <inertia ixx="2.2722068e-07" ixy="1.1586053e-08" ixz="0.0" iyy="5.5947233e-07" iyz="0.0" izz="5.9562195e-07"/>
    </inertial>
  </link>
  <!-- Outer JOINT -->
  <joint name="left_hand_v1_2_research_ring_proximal_joint" type="revolute">
    <axis xyz="0 0 -1"/>
    <origin rpy="0.0 0 0" xyz="0.013 0 0"/>
    <parent link="left_hand_v1_2_research_ring_proximal_virtual_link"/>
    <child link="left_hand_v1_2_research_ring_proximal_link"/>
    <limit effort="30" lower="0.0" upper="0.785398" velocity="10.0"/>
    <dynamics damping="3e-2" friction="0.0"/>
  </joint>
  <!-- LINK -->
  <link name="left_hand_v1_2_research_ring_proximal_link">
    <inertial>
      <mass value="0.009"/>
      <inertia ixx="2.2722068e-07" ixy="1.1586053e-08" ixz="0.0" iyy="5.5947233e-07" iyz="0.0" izz="5.9562195e-07"/>
      <origin rpy="0 0 0" xyz="8.7707437e-03 -1.7863138e-03 0.0"/>
    </inertial>
    <visual>
      <origin rpy="0 0 0" xyz="0 0 0"/>
      <geometry>
        <mesh filename="package://softhands_description/meshes/v1_2_research/left/ph_medium.stl" scale="0.001 0.001 0.001"/>
      </geometry>
      <material name="qbhand/palm"/>
    </visual>
    <collision>
      <origin rpy="0 0 0" xyz="0 0 0"/>
      <geometry>
        <mesh filename="package://softhands_description/meshes/v1_2_research/left/ph_medium.stl" scale="0.001 0.001 0.001"/>
      </geometry>
    </collision>
  </link>
  <!-- GAZEBO REF -->
  <gazebo reference="left_hand_v1_2_research_ring_proximal_link">
    <material>Gazebo/Grey</material>
    <selfCollide>0</selfCollide>
  </gazebo>
  <!-- GAZEBO REF -->
  <gazebo reference="left_hand_v1_2_research_ring_proximal_joint">
    <implicitSpringDamper>true</implicitSpringDamper>
    <springStiffness>0.4</springStiffness>
    <springReference>0</springReference>
  </gazebo>
  <!-- GAZEBO REF -->
  <gazebo reference="left_hand_v1_2_research_ring_proximal_virtual_joint">
    <implicitSpringDamper>true</implicitSpringDamper>
    <springStiffness>0.4</springStiffness>
    <springReference>0</springReference>
  </gazebo>
  <!-- Inner VIRTUAL JOINT -->
  <joint name="left_hand_v1_2_research_ring_middle_virtual_joint" type="revolute">
    <axis xyz="0 0 -1"/>
    <origin rpy="0.0 0.0 0.0" xyz="0.013 0 0 "/>
    <parent link="left_hand_v1_2_research_ring_proximal_link"/>
    <child link="left_hand_v1_2_research_ring_middle_virtual_link"/>
    <limit effort="30" lower="0.0" upper="0.785398" velocity="10.0"/>
    <dynamics damping="3e-2" friction="0.0"/>
  </joint>
  <!-- VIRTUAL LINK -->
  <link name="left_hand_v1_2_research_ring_middle_virtual_link">
    <inertial>
      <origin rpy="0 0 0" xyz="0 0 0"/>
      <mass value="0.0063"/>
      <inertia ixx="1.8024201e-07" ixy="5.756798e-09" ixz="0.0" iyy="2.3516266e-07" iyz="0.0" izz="2.691504e-07"/>
    </inertial>
  </link>
  <!-- Outer JOINT -->
  <joint name="left_hand_v1_2_research_ring_middle_joint" type="revolute">
    <axis xyz="0 0 -1"/>
    <origin rpy="0 0 0" xyz="0.017 0 0"/>
    <parent link="left_hand_v1_2_research_ring_middle_virtual_link"/>
    <child link="left_hand_v1_2_research_ring_middle_link"/>
    <limit effort="30" lower="0.0" upper="0.785398" velocity="10.0"/>
    <dynamics damping="3e-2" friction="0.0"/>
  </joint>
  <!-- LINK -->
  <link name="left_hand_v1_2_research_ring_middle_link">
    <inertial>
      <mass value="0.0063"/>
      <inertia ixx="1.8024201e-07" ixy="5.756798e-09" ixz="0.0" iyy="2.3516266e-07" iyz="0.0" izz="2.691504e-07"/>
      <origin rpy="0 0 0" xyz="4.7601567e-03 -1.3786947e-03 0.0"/>
    </inertial>
    <visual>
      <origin rpy="0 0 0" xyz="0 0 0"/>
      <geometry>
        <mesh filename="package://softhands_description/meshes/v1_2_research/left/ph_short.stl" scale="0.001 0.001 0.001"/>
      </geometry>
      <material name="qbhand/palm"/>
    </visual>
    <collision>
      <origin rpy="0 0 0" xyz="0 0 0"/>
      <geometry>
        <mesh filename="package://softhands_description/meshes/v1_2_research/left/ph_short.stl" scale="0.001 0.001 0.001"/>
      </geometry>
    </collision>
  </link>
  <!-- GAZEBO REF -->
  <gazebo reference="left_hand_v1_2_research_ring_middle_link">
    <material>Gazebo/Grey</material>
    <selfCollide>0</selfCollide>
  </gazebo>
  <!-- GAZEBO REF -->
  <gazebo reference="left_hand_v1_2_research_ring_middle_joint">
    <implicitSpringDamper>true</implicitSpringDamper>
    <springStiffness>0.4</springStiffness>
    <springReference>0</springReference>
  </gazebo>
  <!-- GAZEBO REF -->
  <gazebo reference="left_hand_v1_2_research_ring_middle_virtual_joint">
    <implicitSpringDamper>true</implicitSpringDamper>
    <springStiffness>0.4</springStiffness>
    <springReference>0</springReference>
  </gazebo>
  <!-- Inner VIRTUAL JOINT -->
  <joint name="left_hand_v1_2_research_ring_distal_virtual_joint" type="revolute">
    <axis xyz="0 0 -1"/>
    <origin rpy="0 0 0" xyz="0.009 0 0"/>
    <parent link="left_hand_v1_2_research_ring_middle_link"/>
    <child link="left_hand_v1_2_research_ring_distal_virtual_link"/>
    <limit effort="30" lower="0.0" upper="0.785398" velocity="10.0"/>
    <dynamics damping="3e-2" friction="0.0"/>
  </joint>
  <!-- VIRTUAL LINK -->
  <link name="left_hand_v1_2_research_ring_distal_virtual_link">
    <inertial>
      <origin rpy="0 0 0" xyz="0 0 0"/>
      <mass value="0.009"/>
      <inertia ixx="2.6586142e-07" ixy="1.2416847e-08" ixz="0.0" iyy="5.9935767e-07" iyz="0.0" izz="6.6781963e-07"/>
    </inertial>
  </link>
  <!-- Outer JOINT -->
  <joint name="left_hand_v1_2_research_ring_distal_joint" type="revolute">
    <axis xyz="0 0 -1"/>
    <origin rpy="0 0 0" xyz="0.013 0 0"/>
    <parent link="left_hand_v1_2_research_ring_distal_virtual_link"/>
    <child link="left_hand_v1_2_research_ring_distal_link"/>
    <limit effort="30" lower="0.0" upper="0.785398" velocity="10.0"/>
    <dynamics damping="3e-2" friction="0.0"/>
  </joint>
  <!-- LINK -->
  <link name="left_hand_v1_2_research_ring_distal_link">
    <inertial>
      <mass value="0.009"/>
      <inertia ixx="2.6586142e-07" ixy="1.2416847e-08" ixz="0.0" iyy="5.9935767e-07" iyz="0.0" izz="6.6781963e-07"/>
      <origin rpy="0 0 0" xyz="8.8025467e-03 -1.7219289e-03 0.0"/>
    </inertial>
    <visual>
      <origin rpy="0 0 0" xyz="0 0 0"/>
      <geometry>
        <mesh filename="package://softhands_description/meshes/v1_2_research/left/ph_distal.stl" scale="0.001 0.001 0.001"/>
      </geometry>
      <material name="qbhand/palm"/>
    </visual>
    <collision>
      <origin rpy="0 0 0" xyz="0 0 0"/>
      <geometry>
        <mesh filename="package://softhands_description/meshes/v1_2_research/left/ph_distal.stl" scale="0.001 0.001 0.001"/>
      </geometry>
    </collision>
  </link>
  <!-- GAZEBO REF -->
  <gazebo reference="left_hand_v1_2_research_ring_distal_link">
    <material>Gazebo/Grey</material>
    <selfCollide>0</selfCollide>
  </gazebo>
  <!-- GAZEBO REF -->
  <gazebo reference="left_hand_v1_2_research_ring_distal_joint">
    <implicitSpringDamper>true</implicitSpringDamper>
    <springStiffness>0.4</springStiffness>
    <springReference>0</springReference>
  </gazebo>
  <!-- GAZEBO REF -->
  <gazebo reference="left_hand_v1_2_research_ring_distal_virtual_joint">
    <implicitSpringDamper>true</implicitSpringDamper>
    <springStiffness>0.4</springStiffness>
    <springReference>0</springReference>
  </gazebo>
  <!-- Proximal JOINT -->
  <joint name="left_hand_v1_2_research_little_knuckle_joint" type="revolute">
    <origin rpy="0 3.14 -1.57" xyz="0.04 -0.012 -0.014"/>
    <parent link="left_hand_v1_2_research_palm_link"/>
    <child link="left_hand_v1_2_research_little_knuckle_link"/>
    <axis xyz="0 0 -1"/>
    <limit effort="30" lower="-0.524" upper="0.524" velocity="10.0"/>
    <dynamics damping="3e-2" friction="0.0"/>
  </joint>
  <!-- LINK -->
  <link name="left_hand_v1_2_research_little_knuckle_link">
    <inertial>
      <origin rpy="0 0 0" xyz="4.2753603e-04  0.0 -1.4321738e-03"/>
      <mass value="0.0095"/>
      <inertia ixx="6.4337303e-07" ixy="0.0" ixz="-3.9373913e-08" iyy="1.1253771e-06" iyz="0.0" izz="7.2336948e-07"/>
    </inertial>
    <visual>
      <origin rpy="0 0 0" xyz="0 0 0"/>
      <geometry>
        <mesh filename="package://softhands_description/meshes/v1_2_research/left/ph_knuckle.stl" scale="0.001 0.001 0.001"/>
      </geometry>
      <material name="qbhand/palm"/>
    </visual>
    <collision>
      <origin rpy="0 0 0" xyz="0 0 0"/>
      <geometry>
        <mesh filename="package://softhands_description/meshes/v1_2_research/left/ph_knuckle.stl" scale="0.001 0.001 0.001"/>
      </geometry>
    </collision>
  </link>
  <!-- GAZEBO REF -->
  <gazebo reference="left_hand_v1_2_research_little_knuckle_link">
    <material>Gazebo/Grey</material>
    <selfCollide>0</selfCollide>
  </gazebo>
  <!-- GAZEBO REF -->
  <gazebo reference="left_hand_v1_2_research_little_knuckle_joint">
    <implicitSpringDamper>true</implicitSpringDamper>
    <springStiffness>0.8</springStiffness>
    <springReference>0</springReference>
  </gazebo>
  <!-- Inner VIRTUAL JOINT -->
  <joint name="left_hand_v1_2_research_little_proximal_virtual_joint" type="revolute">
    <axis xyz="0 0 -1"/>
    <origin rpy="1.57 0 0" xyz="0.009 0 0"/>
    <parent link="left_hand_v1_2_research_little_knuckle_link"/>
    <child link="left_hand_v1_2_research_little_proximal_virtual_link"/>
    <limit effort="30" lower="0.0" upper="0.785398" velocity="10.0"/>
    <dynamics damping="3e-2" friction="0.0"/>
  </joint>
  <!-- VIRTUAL LINK -->
  <link name="left_hand_v1_2_research_little_proximal_virtual_link">
    <inertial>
      <origin rpy="0 0 0" xyz="0 0 0"/>
      <mass value="0.009"/>
      <inertia ixx="2.2722068e-07" ixy="1.1586053e-08" ixz="0.0" iyy="5.5947233e-07" iyz="0.0" izz="5.9562195e-07"/>
    </inertial>
  </link>
  <!-- Outer JOINT -->
  <joint name="left_hand_v1_2_research_little_proximal_joint" type="revolute">
    <axis xyz="0 0 -1"/>
    <origin rpy="0.0 0 0" xyz="0.013 0 0"/>
    <parent link="left_hand_v1_2_research_little_proximal_virtual_link"/>
    <child link="left_hand_v1_2_research_little_proximal_link"/>
    <limit effort="30" lower="0.0" upper="0.785398" velocity="10.0"/>
    <dynamics damping="3e-2" friction="0.0"/>
  </joint>
  <!-- LINK -->
  <link name="left_hand_v1_2_research_little_proximal_link">
    <inertial>
      <mass value="0.009"/>
      <inertia ixx="2.2722068e-07" ixy="1.1586053e-08" ixz="0.0" iyy="5.5947233e-07" iyz="0.0" izz="5.9562195e-07"/>
      <origin rpy="0 0 0" xyz="8.7707437e-03 -1.7863138e-03 0.0"/>
    </inertial>
    <visual>
      <origin rpy="0 0 0" xyz="0 0 0"/>
      <geometry>
        <mesh filename="package://softhands_description/meshes/v1_2_research/left/ph_medium.stl" scale="0.001 0.001 0.001"/>
      </geometry>
      <material name="qbhand/palm"/>
    </visual>
    <collision>
      <origin rpy="0 0 0" xyz="0 0 0"/>
      <geometry>
        <mesh filename="package://softhands_description/meshes/v1_2_research/left/ph_medium.stl" scale="0.001 0.001 0.001"/>
      </geometry>
    </collision>
  </link>
  <!-- GAZEBO REF -->
  <gazebo reference="left_hand_v1_2_research_little_proximal_link">
    <material>Gazebo/Grey</material>
    <selfCollide>0</selfCollide>
  </gazebo>
  <!-- GAZEBO REF -->
  <gazebo reference="left_hand_v1_2_research_little_proximal_joint">
    <implicitSpringDamper>true</implicitSpringDamper>
    <springStiffness>0.4</springStiffness>
    <springReference>0</springReference>
  </gazebo>
  <!-- GAZEBO REF -->
  <gazebo reference="left_hand_v1_2_research_little_proximal_virtual_joint">
    <implicitSpringDamper>true</implicitSpringDamper>
    <springStiffness>0.4</springStiffness>
    <springReference>0</springReference>
  </gazebo>
  <!-- Inner VIRTUAL JOINT -->
  <joint name="left_hand_v1_2_research_little_middle_virtual_joint" type="revolute">
    <axis xyz="0 0 -1"/>
    <origin rpy="0.0 0.0 0.0" xyz="0.013 0 0 "/>
    <parent link="left_hand_v1_2_research_little_proximal_link"/>
    <child link="left_hand_v1_2_research_little_middle_virtual_link"/>
    <limit effort="30" lower="0.0" upper="0.785398" velocity="10.0"/>
    <dynamics damping="3e-2" friction="0.0"/>
  </joint>
  <!-- VIRTUAL LINK -->
  <link name="left_hand_v1_2_research_little_middle_virtual_link">
    <inertial>
      <origin rpy="0 0 0" xyz="0 0 0"/>
      <mass value="0.0063"/>
      <inertia ixx="1.8024201e-07" ixy="5.756798e-09" ixz="0.0" iyy="2.3516266e-07" iyz="0.0" izz="2.691504e-07"/>
    </inertial>
  </link>
  <!-- Outer JOINT -->
  <joint name="left_hand_v1_2_research_little_middle_joint" type="revolute">
    <axis xyz="0 0 -1"/>
    <origin rpy="0 0 0" xyz="0.017 0 0"/>
    <parent link="left_hand_v1_2_research_little_middle_virtual_link"/>
    <child link="left_hand_v1_2_research_little_middle_link"/>
    <limit effort="30" lower="0.0" upper="0.785398" velocity="10.0"/>
    <dynamics damping="3e-2" friction="0.0"/>
  </joint>
  <!-- LINK -->
  <link name="left_hand_v1_2_research_little_middle_link">
    <inertial>
      <mass value="0.0063"/>
      <inertia ixx="1.8024201e-07" ixy="5.756798e-09" ixz="0.0" iyy="2.3516266e-07" iyz="0.0" izz="2.691504e-07"/>
      <origin rpy="0 0 0" xyz="4.7601567e-03 -1.3786947e-03 0.0"/>
    </inertial>
    <visual>
      <origin rpy="0 0 0" xyz="0 0 0"/>
      <geometry>
        <mesh filename="package://softhands_description/meshes/v1_2_research/left/ph_short.stl" scale="0.001 0.001 0.001"/>
      </geometry>
      <material name="qbhand/palm"/>
    </visual>
    <collision>
      <origin rpy="0 0 0" xyz="0 0 0"/>
      <geometry>
        <mesh filename="package://softhands_description/meshes/v1_2_research/left/ph_short.stl" scale="0.001 0.001 0.001"/>
      </geometry>
    </collision>
  </link>
  <!-- GAZEBO REF -->
  <gazebo reference="left_hand_v1_2_research_little_middle_link">
    <material>Gazebo/Grey</material>
    <selfCollide>0</selfCollide>
  </gazebo>
  <!-- GAZEBO REF -->
  <gazebo reference="left_hand_v1_2_research_little_middle_joint">
    <implicitSpringDamper>true</implicitSpringDamper>
    <springStiffness>0.4</springStiffness>
    <springReference>0</springReference>
  </gazebo>
  <!-- GAZEBO REF -->
  <gazebo reference="left_hand_v1_2_research_little_middle_virtual_joint">
    <implicitSpringDamper>true</implicitSpringDamper>
    <springStiffness>0.4</springStiffness>
    <springReference>0</springReference>
  </gazebo>
  <!-- Inner VIRTUAL JOINT -->
  <joint name="left_hand_v1_2_research_little_distal_virtual_joint" type="revolute">
    <axis xyz="0 0 -1"/>
    <origin rpy="0 0 0" xyz="0.009 0 0"/>
    <parent link="left_hand_v1_2_research_little_middle_link"/>
    <child link="left_hand_v1_2_research_little_distal_virtual_link"/>
    <limit effort="30" lower="0.0" upper="0.785398" velocity="10.0"/>
    <dynamics damping="3e-2" friction="0.0"/>
  </joint>
  <!-- VIRTUAL LINK -->
  <link name="left_hand_v1_2_research_little_distal_virtual_link">
    <inertial>
      <origin rpy="0 0 0" xyz="0 0 0"/>
      <mass value="0.009"/>
      <inertia ixx="2.6586142e-07" ixy="1.2416847e-08" ixz="0.0" iyy="5.9935767e-07" iyz="0.0" izz="6.6781963e-07"/>
    </inertial>
  </link>
  <!-- Outer JOINT -->
  <joint name="left_hand_v1_2_research_little_distal_joint" type="revolute">
    <axis xyz="0 0 -1"/>
    <origin rpy="0 0 0" xyz="0.013 0 0"/>
    <parent link="left_hand_v1_2_research_little_distal_virtual_link"/>
    <child link="left_hand_v1_2_research_little_distal_link"/>
    <limit effort="30" lower="0.0" upper="0.785398" velocity="10.0"/>
    <dynamics damping="3e-2" friction="0.0"/>
  </joint>
  <!-- LINK -->
  <link name="left_hand_v1_2_research_little_distal_link">
    <inertial>
      <mass value="0.009"/>
      <inertia ixx="2.6586142e-07" ixy="1.2416847e-08" ixz="0.0" iyy="5.9935767e-07" iyz="0.0" izz="6.6781963e-07"/>
      <origin rpy="0 0 0" xyz="8.8025467e-03 -1.7219289e-03 0.0"/>
    </inertial>
    <visual>
      <origin rpy="0 0 0" xyz="0 0 0"/>
      <geometry>
        <mesh filename="package://softhands_description/meshes/v1_2_research/left/ph_distal.stl" scale="0.001 0.001 0.001"/>
      </geometry>
      <material name="qbhand/palm"/>
    </visual>
    <collision>
      <origin rpy="0 0 0" xyz="0 0 0"/>
      <geometry>
        <mesh filename="package://softhands_description/meshes/v1_2_research/left/ph_distal.stl" scale="0.001 0.001 0.001"/>
      </geometry>
    </collision>
  </link>
  <!-- GAZEBO REF -->
  <gazebo reference="left_hand_v1_2_research_little_distal_link">
    <material>Gazebo/Grey</material>
    <selfCollide>0</selfCollide>
  </gazebo>
  <!-- GAZEBO REF -->
  <gazebo reference="left_hand_v1_2_research_little_distal_joint">
    <implicitSpringDamper>true</implicitSpringDamper>
    <springStiffness>0.4</springStiffness>
    <springReference>0</springReference>
  </gazebo>
  <!-- GAZEBO REF -->
  <gazebo reference="left_hand_v1_2_research_little_distal_virtual_joint">
    <implicitSpringDamper>true</implicitSpringDamper>
    <springStiffness>0.4</springStiffness>
    <springReference>0</springReference>
  </gazebo>
  <gazebo>
    <plugin filename="libsofthand_mimic_plugin.so" name="synergy_plugin">
      <namespace>right_hand_v1_2_research</namespace>
      <operation_mode>0</operation_mode>
      <spring_k>5</spring_k>
      <wide>False</wide>
      <r_finger>0.0033</r_finger>
      <R_pulley>0.0053</R_pulley>
      <n_param>0.058</n_param>
      <synS_thumb_j1>3</synS_thumb_j1>
      <synS_thumb_j2>1.2</synS_thumb_j2>
      <synS_thumb_j3>1.2</synS_thumb_j3>
      <k_thumb_j1>0.8</k_thumb_j1>
      <k_thumb_j2>0.8</k_thumb_j2>
      <k_thumb_j3>0.8</k_thumb_j3>
      <synS_index_j1>-0.3</synS_index_j1>
      <synS_index_j2>1.57</synS_index_j2>
      <synS_index_j3>1.25</synS_index_j3>
      <synS_index_j4>0.8</synS_index_j4>
      <k_index_j1>0.15</k_index_j1>
      <k_index_j2>0.5</k_index_j2>
      <k_index_j3>0.5</k_index_j3>
      <k_index_j4>0.5</k_index_j4>
      <synS_middle_j1>0</synS_middle_j1>
      <synS_middle_j2>1.57</synS_middle_j2>
      <synS_middle_j3>1.25</synS_middle_j3>
      <synS_middle_j4>1.25</synS_middle_j4>
      <k_middle_j1>0.15</k_middle_j1>
      <k_middle_j2>0.5</k_middle_j2>
      <k_middle_j3>0.5</k_middle_j3>
      <k_middle_j4>0.5</k_middle_j4>
      <synS_ring_j1>0</synS_ring_j1>
      <synS_ring_j2>1.57</synS_ring_j2>
      <synS_ring_j3>1.0</synS_ring_j3>
      <synS_ring_j4>1.0</synS_ring_j4>
      <k_ring_j1>0.15</k_ring_j1>
      <k_ring_j2>0.5</k_ring_j2>
      <k_ring_j3>0.5</k_ring_j3>
      <k_ring_j4>0.5</k_ring_j4>
      <synS_little_j1>0.1</synS_little_j1>
      <synS_little_j2>1.57</synS_little_j2>
      <synS_little_j3>1.25</synS_little_j3>
      <synS_little_j4>1.0</synS_little_j4>
      <k_little_j1>0.15</k_little_j1>
      <k_little_j2>0.5</k_little_j2>
      <k_little_j3>0.5</k_little_j3>
      <k_little_j4>0.5</k_little_j4>
      <!-- Palm thumb -->
      <synS_palm_j1>1.57</synS_palm_j1>
      <k_palm_j1>0.5</k_palm_j1>
      <k_palm_j1_mimic>0.5</k_palm_j1_mimic>
      <!-- Palm little -->
      <synS_palm_j2>1.57</synS_palm_j2>
      <k_palm_j2>0.5</k_palm_j2>
      <k_palm_j2_mimic>0.5</k_palm_j2_mimic>
    </plugin>
  </gazebo>
  <!-- World to palm base -->
  <joint name="right_hand_v1_2_research_iso_joint" type="fixed">
    <parent link="world"/>
    <child link="right_hand_v1_2_research_iso_link"/>
    <origin rpy="0 0 -1.57" xyz="0 0.2 0.02"/>
  </joint>
  <link name="right_hand_v1_2_research_iso_link">
    <inertial>
      <mass value="0.205"/>
      <origin rpy="0 0 0" xyz="0.0 7.8738498e-04 1.5878899e-02"/>
      <inertia ixx="0.00012506929" ixy="0.0" ixz="0.0" iyy="0.0001338779" iyz="0.0" izz="0.00019218394"/>
    </inertial>
    <visual>
      <origin rpy="0 0 0" xyz="0 0 0"/>
      <geometry>
        <mesh filename="package://softhands_description/meshes/v1_2_research/right/flange_iso_04.stl" scale="0.001 0.001 0.001"/>
      </geometry>
      <material name="qbhand/base"/>
    </visual>
    <collision>
      <origin rpy="0 0 0" xyz="0 0 0"/>
      <geometry>
        <mesh filename="package://softhands_description/meshes/v1_2_research/right/flange_iso_04.stl" scale="0.001 0.001 0.001"/>
      </geometry>
    </collision>
  </link>
  <gazebo reference="right_hand_v1_2_research_iso_link">
    <material>Gazebo/Grey</material>
    <selfCollide>0</selfCollide>
  </gazebo>
  <joint name="right_hand_v1_2_research_palm_joint" type="fixed">
    <origin rpy="1.57 0 0" xyz="-0.0045 0.0145 0.144"/>
    <parent link="right_hand_v1_2_research_iso_link"/>
    <child link="right_hand_v1_2_research_palm_link"/>
  </joint>
  <link name="right_hand_v1_2_research_palm_link">
    <inertial>
      <origin rpy="0 0 0" xyz="0.0030 -0.0449 0.0135"/>
      <mass value="0.45"/>
      <inertia ixx="0.00045" ixy="0.0" ixz="0.0" iyy="0.00025" iyz="0.0" izz="0.0006"/>
    </inertial>
    <visual>
      <origin rpy="0 0 0" xyz="0 0 0"/>
      <geometry>
        <mesh filename="package://softhands_description/meshes/v1_2_research/right/palm_pinch.stl" scale="0.001 0.001 0.001"/>
      </geometry>
      <material name="qbhand/palm"/>
    </visual>
    <collision>
      <origin rpy="0 0 0" xyz="0 0 0"/>
      <geometry>
        <mesh filename="package://softhands_description/meshes/v1_2_research/right/palm_pinch.stl" scale="0.001 0.001 0.001"/>
      </geometry>
    </collision>
  </link>
  <gazebo reference="right_hand_v1_2_research_palm_link">
    <material>Gazebo/Grey</material>
    <selfCollide>0</selfCollide>
  </gazebo>
  <!-- Proximal JOINT -->
  <joint name="right_hand_v1_2_research_thumb_knuckle_joint" type="revolute">
    <origin rpy="-1.57 3.14 0.0" xyz="-0.044 -0.0465 -0.002"/>
    <parent link="right_hand_v1_2_research_palm_link"/>
    <child link="right_hand_v1_2_research_thumb_knuckle_link"/>
    <axis xyz="0 0 -1"/>
    <limit effort="30" lower="0.0" upper="1.57" velocity="10.0"/>
    <dynamics damping="3e-2" friction="0.0"/>
  </joint>
  <!-- LINK -->
  <link name="right_hand_v1_2_research_thumb_knuckle_link">
    <inertial>
      <origin rpy="0 0 0" xyz="1.3071561e-02 -0.002734634 6.4090487e-04"/>
      <mass value="0.01"/>
      <inertia ixx="3.5865978e-07" ixy="2.0944224e-07" ixz="-6.8657569e-08" iyy="1.3885564e-06" iyz="3.2170608e-08" izz="1.3571203e-06"/>
    </inertial>
    <visual>
      <origin rpy="0 0 0" xyz="0 0 0"/>
      <geometry>
        <mesh filename="package://softhands_description/meshes/v1_2_research/right/ph_thumb.stl" scale="0.001 0.001 0.001"/>
      </geometry>
      <material name="qbhand/knuckle"/>
    </visual>
    <collision>
      <origin rpy="0 0 0" xyz="0 0 0"/>
      <geometry>
        <mesh filename="package://softhands_description/meshes/v1_2_research/right/ph_thumb.stl" scale="0.001 0.001 0.001"/>
      </geometry>
    </collision>
  </link>
  <!-- GAZEBO REF -->
  <gazebo reference="right_hand_v1_2_research_thumb_knuckle_link">
    <material>Gazebo/Grey</material>
    <selfCollide>0</selfCollide>
  </gazebo>
  <!-- GAZEBO REF -->
  <gazebo reference="right_hand_v1_2_research_thumb_knuckle_joint">
    <implicitSpringDamper>true</implicitSpringDamper>
    <springStiffness>0.4</springStiffness>
    <springReference>0</springReference>
  </gazebo>
  <!-- Inner VIRTUAL JOINT -->
  <joint name="right_hand_v1_2_research_thumb_proximal_virtual_joint" type="revolute">
    <axis xyz="0 0 -1"/>
    <origin rpy="-1.1415 0.0 0.0" xyz="0.0255 -0.0038 -0.00012"/>
    <parent link="right_hand_v1_2_research_thumb_knuckle_link"/>
    <child link="right_hand_v1_2_research_thumb_proximal_virtual_link"/>
    <limit effort="30" lower="0.0" upper="0.785398" velocity="10.0"/>
    <dynamics damping="3e-2" friction="0.0"/>
  </joint>
  <!-- VIRTUAL LINK -->
  <link name="right_hand_v1_2_research_thumb_proximal_virtual_link">
    <inertial>
      <origin rpy="0 0 0" xyz="0 0 0"/>
      <mass value="0.0063"/>
      <inertia ixx="1.8024201e-07" ixy="5.756798e-09" ixz="0.0" iyy="2.3516266e-07" iyz="0.0" izz="2.691504e-07"/>
    </inertial>
  </link>
  <!-- Outer JOINT -->
  <joint name="right_hand_v1_2_research_thumb_proximal_joint" type="revolute">
    <axis xyz="0 0 -1"/>
    <origin rpy="0 0 0" xyz="0.013 0 0"/>
    <parent link="right_hand_v1_2_research_thumb_proximal_virtual_link"/>
    <child link="right_hand_v1_2_research_thumb_proximal_link"/>
    <limit effort="30" lower="0.0" upper="0.785398" velocity="10.0"/>
    <dynamics damping="3e-2" friction="0.0"/>
  </joint>
  <!-- LINK -->
  <link name="right_hand_v1_2_research_thumb_proximal_link">
    <inertial>
      <mass value="0.0063"/>
      <inertia ixx="1.8024201e-07" ixy="5.756798e-09" ixz="0.0" iyy="2.3516266e-07" iyz="0.0" izz="2.691504e-07"/>
      <origin rpy="0 0 0" xyz="4.7601567e-03 -1.3786947e-03 0.0"/>
    </inertial>
    <visual>
      <origin rpy="0 0 0" xyz="0 0 0"/>
      <geometry>
        <mesh filename="package://softhands_description/meshes/v1_2_research/right/ph_short.stl" scale="0.001 0.001 0.001"/>
      </geometry>
      <material name="qbhand/palm"/>
    </visual>
    <collision>
      <origin rpy="0 0 0" xyz="0 0 0"/>
      <geometry>
        <mesh filename="package://softhands_description/meshes/v1_2_research/right/ph_short.stl" scale="0.001 0.001 0.001"/>
      </geometry>
    </collision>
  </link>
  <!-- GAZEBO REF -->
  <gazebo reference="right_hand_v1_2_research_thumb_proximal_link">
    <material>Gazebo/Grey</material>
    <selfCollide>0</selfCollide>
  </gazebo>
  <!-- GAZEBO REF -->
  <gazebo reference="right_hand_v1_2_research_thumb_proximal_joint">
    <implicitSpringDamper>true</implicitSpringDamper>
    <springStiffness>0.4</springStiffness>
    <springReference>0</springReference>
  </gazebo>
  <!-- GAZEBO REF -->
  <gazebo reference="right_hand_v1_2_research_thumb_proximal_virtual_joint">
    <implicitSpringDamper>true</implicitSpringDamper>
    <springStiffness>0.4</springStiffness>
    <springReference>0</springReference>
  </gazebo>
  <!-- Inner VIRTUAL JOINT -->
  <joint name="right_hand_v1_2_research_thumb_distal_virtual_joint" type="revolute">
    <axis xyz="0 0 -1"/>
    <origin rpy="0 0 0" xyz="0.009 0 0"/>
    <parent link="right_hand_v1_2_research_thumb_proximal_link"/>
    <child link="right_hand_v1_2_research_thumb_distal_virtual_link"/>
    <limit effort="30" lower="0.0" upper="0.785398" velocity="10.0"/>
    <dynamics damping="3e-2" friction="0.0"/>
  </joint>
  <!-- VIRTUAL LINK -->
  <link name="right_hand_v1_2_research_thumb_distal_virtual_link">
    <inertial>
      <origin rpy="0 0 0" xyz="0 0 0"/>
      <mass value="0.009"/>
      <inertia ixx="2.6586142e-07" ixy="1.2416847e-08" ixz="0.0" iyy="5.9935767e-07" iyz="0.0" izz="6.6781963e-07"/>
    </inertial>
  </link>
  <!-- Outer JOINT -->
  <joint name="right_hand_v1_2_research_thumb_distal_joint" type="revolute">
    <axis xyz="0 0 -1"/>
    <origin rpy="0 0 0" xyz="0.013 0 0"/>
    <parent link="right_hand_v1_2_research_thumb_distal_virtual_link"/>
    <child link="right_hand_v1_2_research_thumb_distal_link"/>
    <limit effort="30" lower="0.0" upper="0.785398" velocity="10.0"/>
    <dynamics damping="3e-2" friction="0.0"/>
  </joint>
  <!-- LINK -->
  <link name="right_hand_v1_2_research_thumb_distal_link">
    <inertial>
      <mass value="0.009"/>
      <inertia ixx="2.6586142e-07" ixy="1.2416847e-08" ixz="0.0" iyy="5.9935767e-07" iyz="0.0" izz="6.6781963e-07"/>
      <origin rpy="0 0 0" xyz="8.8025467e-03 -1.7219289e-03 0.0"/>
    </inertial>
    <visual>
      <origin rpy="0 0 0" xyz="0 0 0"/>
      <geometry>
        <mesh filename="package://softhands_description/meshes/v1_2_research/right/ph_distal.stl" scale="0.001 0.001 0.001"/>
      </geometry>
      <material name="qbhand/palm"/>
    </visual>
    <collision>
      <origin rpy="0 0 0" xyz="0 0 0"/>
      <geometry>
        <mesh filename="package://softhands_description/meshes/v1_2_research/right/ph_distal.stl" scale="0.001 0.001 0.001"/>
      </geometry>
    </collision>
  </link>
  <!-- GAZEBO REF -->
  <gazebo reference="right_hand_v1_2_research_thumb_distal_link">
    <material>Gazebo/Grey</material>
    <selfCollide>0</selfCollide>
  </gazebo>
  <!-- GAZEBO REF -->
  <gazebo reference="right_hand_v1_2_research_thumb_distal_joint">
    <implicitSpringDamper>true</implicitSpringDamper>
    <springStiffness>0.4</springStiffness>
    <springReference>0</springReference>
  </gazebo>
  <!-- GAZEBO REF -->
  <gazebo reference="right_hand_v1_2_research_thumb_distal_virtual_joint">
    <implicitSpringDamper>true</implicitSpringDamper>
    <springStiffness>0.4</springStiffness>
    <springReference>0</springReference>
  </gazebo>
  <!-- Proximal JOINT -->
  <joint name="right_hand_v1_2_research_index_knuckle_joint" type="revolute">
    <origin rpy="0 0 1.57" xyz="-0.02 -0.007 0.014"/>
    <parent link="right_hand_v1_2_research_palm_link"/>
    <child link="right_hand_v1_2_research_index_knuckle_link"/>
    <axis xyz="0 0 -1"/>
    <limit effort="30" lower="-0.524" upper="0.524" velocity="10.0"/>
    <dynamics damping="3e-2" friction="0.0"/>
  </joint>
  <!-- LINK -->
  <link name="right_hand_v1_2_research_index_knuckle_link">
    <inertial>
      <origin rpy="0 0 0" xyz="4.2753603e-04  0.0 -1.4321738e-03"/>
      <mass value="0.0095"/>
      <inertia ixx="6.4337303e-07" ixy="0.0" ixz="-3.9373913e-08" iyy="1.1253771e-06" iyz="0.0" izz="7.2336948e-07"/>
    </inertial>
    <visual>
      <origin rpy="0 0 0" xyz="0 0 0"/>
      <geometry>
        <mesh filename="package://softhands_description/meshes/v1_2_research/right/ph_knuckle.stl" scale="0.001 0.001 0.001"/>
      </geometry>
      <material name="qbhand/palm"/>
    </visual>
    <collision>
      <origin rpy="0 0 0" xyz="0 0 0"/>
      <geometry>
        <mesh filename="package://softhands_description/meshes/v1_2_research/right/ph_knuckle.stl" scale="0.001 0.001 0.001"/>
      </geometry>
    </collision>
  </link>
  <!-- GAZEBO REF -->
  <gazebo reference="right_hand_v1_2_research_index_knuckle_link">
    <material>Gazebo/Grey</material>
    <selfCollide>0</selfCollide>
  </gazebo>
  <!-- GAZEBO REF -->
  <gazebo reference="right_hand_v1_2_research_index_knuckle_joint">
    <implicitSpringDamper>true</implicitSpringDamper>
    <springStiffness>0.8</springStiffness>
    <springReference>0</springReference>
  </gazebo>
  <!-- Inner VIRTUAL JOINT -->
  <joint name="right_hand_v1_2_research_index_proximal_virtual_joint" type="revolute">
    <axis xyz="0 0 -1"/>
    <origin rpy="1.57 0 0" xyz="0.009 0 0"/>
    <parent link="right_hand_v1_2_research_index_knuckle_link"/>
    <child link="right_hand_v1_2_research_index_proximal_virtual_link"/>
    <limit effort="30" lower="0.0" upper="0.785398" velocity="10.0"/>
    <dynamics damping="3e-2" friction="0.0"/>
  </joint>
  <!-- VIRTUAL LINK -->
  <link name="right_hand_v1_2_research_index_proximal_virtual_link">
    <inertial>
      <origin rpy="0 0 0" xyz="0 0 0"/>
      <mass value="0.009"/>
      <inertia ixx="2.2722068e-07" ixy="1.1586053e-08" ixz="0.0" iyy="5.5947233e-07" iyz="0.0" izz="5.9562195e-07"/>
    </inertial>
  </link>
  <!-- Outer JOINT -->
  <joint name="right_hand_v1_2_research_index_proximal_joint" type="revolute">
    <axis xyz="0 0 -1"/>
    <origin rpy="0.0 0 0" xyz="0.013 0 0"/>
    <parent link="right_hand_v1_2_research_index_proximal_virtual_link"/>
    <child link="right_hand_v1_2_research_index_proximal_link"/>
    <limit effort="30" lower="0.0" upper="0.785398" velocity="10.0"/>
    <dynamics damping="3e-2" friction="0.0"/>
  </joint>
  <!-- LINK -->
  <link name="right_hand_v1_2_research_index_proximal_link">
    <inertial>
      <mass value="0.009"/>
      <inertia ixx="2.2722068e-07" ixy="1.1586053e-08" ixz="0.0" iyy="5.5947233e-07" iyz="0.0" izz="5.9562195e-07"/>
      <origin rpy="0 0 0" xyz="8.7707437e-03 -1.7863138e-03 0.0"/>
    </inertial>
    <visual>
      <origin rpy="0 0 0" xyz="0 0 0"/>
      <geometry>
        <mesh filename="package://softhands_description/meshes/v1_2_research/right/ph_medium.stl" scale="0.001 0.001 0.001"/>
      </geometry>
      <material name="qbhand/palm"/>
    </visual>
    <collision>
      <origin rpy="0 0 0" xyz="0 0 0"/>
      <geometry>
        <mesh filename="package://softhands_description/meshes/v1_2_research/right/ph_medium.stl" scale="0.001 0.001 0.001"/>
      </geometry>
    </collision>
  </link>
  <!-- GAZEBO REF -->
  <gazebo reference="right_hand_v1_2_research_index_proximal_link">
    <material>Gazebo/Grey</material>
    <selfCollide>0</selfCollide>
  </gazebo>
  <!-- GAZEBO REF -->
  <gazebo reference="right_hand_v1_2_research_index_proximal_joint">
    <implicitSpringDamper>true</implicitSpringDamper>
    <springStiffness>0.4</springStiffness>
    <springReference>0</springReference>
  </gazebo>
  <!-- GAZEBO REF -->
  <gazebo reference="right_hand_v1_2_research_index_proximal_virtual_joint">
    <implicitSpringDamper>true</implicitSpringDamper>
    <springStiffness>0.4</springStiffness>
    <springReference>0</springReference>
  </gazebo>
  <!-- Inner VIRTUAL JOINT -->
  <joint name="right_hand_v1_2_research_index_middle_virtual_joint" type="revolute">
    <axis xyz="0 0 -1"/>
    <origin rpy="0.0 0.0 0.0" xyz="0.013 0 0 "/>
    <parent link="right_hand_v1_2_research_index_proximal_link"/>
    <child link="right_hand_v1_2_research_index_middle_virtual_link"/>
    <limit effort="30" lower="0.0" upper="0.785398" velocity="10.0"/>
    <dynamics damping="3e-2" friction="0.0"/>
  </joint>
  <!-- VIRTUAL LINK -->
  <link name="right_hand_v1_2_research_index_middle_virtual_link">
    <inertial>
      <origin rpy="0 0 0" xyz="0 0 0"/>
      <mass value="0.0063"/>
      <inertia ixx="1.8024201e-07" ixy="5.756798e-09" ixz="0.0" iyy="2.3516266e-07" iyz="0.0" izz="2.691504e-07"/>
    </inertial>
  </link>
  <!-- Outer JOINT -->
  <joint name="right_hand_v1_2_research_index_middle_joint" type="revolute">
    <axis xyz="0 0 -1"/>
    <origin rpy="0 0 0" xyz="0.017 0 0"/>
    <parent link="right_hand_v1_2_research_index_middle_virtual_link"/>
    <child link="right_hand_v1_2_research_index_middle_link"/>
    <limit effort="30" lower="0.0" upper="0.785398" velocity="10.0"/>
    <dynamics damping="3e-2" friction="0.0"/>
  </joint>
  <!-- LINK -->
  <link name="right_hand_v1_2_research_index_middle_link">
    <inertial>
      <mass value="0.0063"/>
      <inertia ixx="1.8024201e-07" ixy="5.756798e-09" ixz="0.0" iyy="2.3516266e-07" iyz="0.0" izz="2.691504e-07"/>
      <origin rpy="0 0 0" xyz="4.7601567e-03 -1.3786947e-03 0.0"/>
    </inertial>
    <visual>
      <origin rpy="0 0 0" xyz="0 0 0"/>
      <geometry>
        <mesh filename="package://softhands_description/meshes/v1_2_research/right/ph_short.stl" scale="0.001 0.001 0.001"/>
      </geometry>
      <material name="qbhand/palm"/>
    </visual>
    <collision>
      <origin rpy="0 0 0" xyz="0 0 0"/>
      <geometry>
        <mesh filename="package://softhands_description/meshes/v1_2_research/right/ph_short.stl" scale="0.001 0.001 0.001"/>
      </geometry>
    </collision>
  </link>
  <!-- GAZEBO REF -->
  <gazebo reference="right_hand_v1_2_research_index_middle_link">
    <material>Gazebo/Grey</material>
    <selfCollide>0</selfCollide>
  </gazebo>
  <!-- GAZEBO REF -->
  <gazebo reference="right_hand_v1_2_research_index_middle_joint">
    <implicitSpringDamper>true</implicitSpringDamper>
    <springStiffness>0.4</springStiffness>
    <springReference>0</springReference>
  </gazebo>
  <!-- GAZEBO REF -->
  <gazebo reference="right_hand_v1_2_research_index_middle_virtual_joint">
    <implicitSpringDamper>true</implicitSpringDamper>
    <springStiffness>0.4</springStiffness>
    <springReference>0</springReference>
  </gazebo>
  <!-- Inner VIRTUAL JOINT -->
  <joint name="right_hand_v1_2_research_index_distal_virtual_joint" type="revolute">
    <axis xyz="0 0 -1"/>
    <origin rpy="0 0 0" xyz="0.009 0 0"/>
    <parent link="right_hand_v1_2_research_index_middle_link"/>
    <child link="right_hand_v1_2_research_index_distal_virtual_link"/>
    <limit effort="30" lower="0.0" upper="0.785398" velocity="10.0"/>
    <dynamics damping="3e-2" friction="0.0"/>
  </joint>
  <!-- VIRTUAL LINK -->
  <link name="right_hand_v1_2_research_index_distal_virtual_link">
    <inertial>
      <origin rpy="0 0 0" xyz="0 0 0"/>
      <mass value="0.009"/>
      <inertia ixx="2.6586142e-07" ixy="1.2416847e-08" ixz="0.0" iyy="5.9935767e-07" iyz="0.0" izz="6.6781963e-07"/>
    </inertial>
  </link>
  <!-- Outer JOINT -->
  <joint name="right_hand_v1_2_research_index_distal_joint" type="revolute">
    <axis xyz="0 0 -1"/>
    <origin rpy="0 0 0" xyz="0.013 0 0"/>
    <parent link="right_hand_v1_2_research_index_distal_virtual_link"/>
    <child link="right_hand_v1_2_research_index_distal_link"/>
    <limit effort="30" lower="0.0" upper="0.785398" velocity="10.0"/>
    <dynamics damping="3e-2" friction="0.0"/>
  </joint>
  <!-- LINK -->
  <link name="right_hand_v1_2_research_index_distal_link">
    <inertial>
      <mass value="0.009"/>
      <inertia ixx="2.6586142e-07" ixy="1.2416847e-08" ixz="0.0" iyy="5.9935767e-07" iyz="0.0" izz="6.6781963e-07"/>
      <origin rpy="0 0 0" xyz="8.8025467e-03 -1.7219289e-03 0.0"/>
    </inertial>
    <visual>
      <origin rpy="0 0 0" xyz="0 0 0"/>
      <geometry>
        <mesh filename="package://softhands_description/meshes/v1_2_research/right/ph_distal.stl" scale="0.001 0.001 0.001"/>
      </geometry>
      <material name="qbhand/palm"/>
    </visual>
    <collision>
      <origin rpy="0 0 0" xyz="0 0 0"/>
      <geometry>
        <mesh filename="package://softhands_description/meshes/v1_2_research/right/ph_distal.stl" scale="0.001 0.001 0.001"/>
      </geometry>
    </collision>
  </link>
  <!-- GAZEBO REF -->
  <gazebo reference="right_hand_v1_2_research_index_distal_link">
    <material>Gazebo/Grey</material>
    <selfCollide>0</selfCollide>
  </gazebo>
  <!-- GAZEBO REF -->
  <gazebo reference="right_hand_v1_2_research_index_distal_joint">
    <implicitSpringDamper>true</implicitSpringDamper>
    <springStiffness>0.4</springStiffness>
    <springReference>0</springReference>
  </gazebo>
  <!-- GAZEBO REF -->
  <gazebo reference="right_hand_v1_2_research_index_distal_virtual_joint">
    <implicitSpringDamper>true</implicitSpringDamper>
    <springStiffness>0.4</springStiffness>
    <springReference>0</springReference>
  </gazebo>
  <!-- Proximal JOINT -->
  <joint name="right_hand_v1_2_research_middle_knuckle_joint" type="revolute">
    <origin rpy="0 0 1.57" xyz="0 0 0.014"/>
    <parent link="right_hand_v1_2_research_palm_link"/>
    <child link="right_hand_v1_2_research_middle_knuckle_link"/>
    <axis xyz="0 0 -1"/>
    <limit effort="30" lower="-0.524" upper="0.524" velocity="10.0"/>
    <dynamics damping="3e-2" friction="0.0"/>
  </joint>
  <!-- LINK -->
  <link name="right_hand_v1_2_research_middle_knuckle_link">
    <inertial>
      <origin rpy="0 0 0" xyz="4.2753603e-04  0.0 -1.4321738e-03"/>
      <mass value="0.0095"/>
      <inertia ixx="6.4337303e-07" ixy="0.0" ixz="-3.9373913e-08" iyy="1.1253771e-06" iyz="0.0" izz="7.2336948e-07"/>
    </inertial>
    <visual>
      <origin rpy="0 0 0" xyz="0 0 0"/>
      <geometry>
        <mesh filename="package://softhands_description/meshes/v1_2_research/right/ph_knuckle.stl" scale="0.001 0.001 0.001"/>
      </geometry>
      <material name="qbhand/palm"/>
    </visual>
    <collision>
      <origin rpy="0 0 0" xyz="0 0 0"/>
      <geometry>
        <mesh filename="package://softhands_description/meshes/v1_2_research/right/ph_knuckle.stl" scale="0.001 0.001 0.001"/>
      </geometry>
    </collision>
  </link>
  <!-- GAZEBO REF -->
  <gazebo reference="right_hand_v1_2_research_middle_knuckle_link">
    <material>Gazebo/Grey</material>
    <selfCollide>0</selfCollide>
  </gazebo>
  <!-- GAZEBO REF -->
  <gazebo reference="right_hand_v1_2_research_middle_knuckle_joint">
    <implicitSpringDamper>true</implicitSpringDamper>
    <springStiffness>0.8</springStiffness>
    <springReference>0</springReference>
  </gazebo>
  <!-- Inner VIRTUAL JOINT -->
  <joint name="right_hand_v1_2_research_middle_proximal_virtual_joint" type="revolute">
    <axis xyz="0 0 -1"/>
    <origin rpy="1.57 0 0" xyz="0.009 0 0"/>
    <parent link="right_hand_v1_2_research_middle_knuckle_link"/>
    <child link="right_hand_v1_2_research_middle_proximal_virtual_link"/>
    <limit effort="30" lower="0.0" upper="0.785398" velocity="10.0"/>
    <dynamics damping="3e-2" friction="0.0"/>
  </joint>
  <!-- VIRTUAL LINK -->
  <link name="right_hand_v1_2_research_middle_proximal_virtual_link">
    <inertial>
      <origin rpy="0 0 0" xyz="0 0 0"/>
      <mass value="0.009"/>
      <inertia ixx="2.2722068e-07" ixy="1.1586053e-08" ixz="0.0" iyy="5.5947233e-07" iyz="0.0" izz="5.9562195e-07"/>
    </inertial>
  </link>
  <!-- Outer JOINT -->
  <joint name="right_hand_v1_2_research_middle_proximal_joint" type="revolute">
    <axis xyz="0 0 -1"/>
    <origin rpy="0.0 0 0" xyz="0.013 0 0"/>
    <parent link="right_hand_v1_2_research_middle_proximal_virtual_link"/>
    <child link="right_hand_v1_2_research_middle_proximal_link"/>
    <limit effort="30" lower="0.0" upper="0.785398" velocity="10.0"/>
    <dynamics damping="3e-2" friction="0.0"/>
  </joint>
  <!-- LINK -->
  <link name="right_hand_v1_2_research_middle_proximal_link">
    <inertial>
      <mass value="0.009"/>
      <inertia ixx="2.2722068e-07" ixy="1.1586053e-08" ixz="0.0" iyy="5.5947233e-07" iyz="0.0" izz="5.9562195e-07"/>
      <origin rpy="0 0 0" xyz="8.7707437e-03 -1.7863138e-03 0.0"/>
    </inertial>
    <visual>
      <origin rpy="0 0 0" xyz="0 0 0"/>
      <geometry>
        <mesh filename="package://softhands_description/meshes/v1_2_research/right/ph_medium.stl" scale="0.001 0.001 0.001"/>
      </geometry>
      <material name="qbhand/palm"/>
    </visual>
    <collision>
      <origin rpy="0 0 0" xyz="0 0 0"/>
      <geometry>
        <mesh filename="package://softhands_description/meshes/v1_2_research/right/ph_medium.stl" scale="0.001 0.001 0.001"/>
      </geometry>
    </collision>
  </link>
  <!-- GAZEBO REF -->
  <gazebo reference="right_hand_v1_2_research_middle_proximal_link">
    <material>Gazebo/Grey</material>
    <selfCollide>0</selfCollide>
  </gazebo>
  <!-- GAZEBO REF -->
  <gazebo reference="right_hand_v1_2_research_middle_proximal_joint">
    <implicitSpringDamper>true</implicitSpringDamper>
    <springStiffness>0.4</springStiffness>
    <springReference>0</springReference>
  </gazebo>
  <!-- GAZEBO REF -->
  <gazebo reference="right_hand_v1_2_research_middle_proximal_virtual_joint">
    <implicitSpringDamper>true</implicitSpringDamper>
    <springStiffness>0.4</springStiffness>
    <springReference>0</springReference>
  </gazebo>
  <!-- Inner VIRTUAL JOINT -->
  <joint name="right_hand_v1_2_research_middle_middle_virtual_joint" type="revolute">
    <axis xyz="0 0 -1"/>
    <origin rpy="0.0 0.0 0.0" xyz="0.013 0 0 "/>
    <parent link="right_hand_v1_2_research_middle_proximal_link"/>
    <child link="right_hand_v1_2_research_middle_middle_virtual_link"/>
    <limit effort="30" lower="0.0" upper="0.785398" velocity="10.0"/>
    <dynamics damping="3e-2" friction="0.0"/>
  </joint>
  <!-- VIRTUAL LINK -->
  <link name="right_hand_v1_2_research_middle_middle_virtual_link">
    <inertial>
      <origin rpy="0 0 0" xyz="0 0 0"/>
      <mass value="0.0063"/>
      <inertia ixx="1.8024201e-07" ixy="5.756798e-09" ixz="0.0" iyy="2.3516266e-07" iyz="0.0" izz="2.691504e-07"/>
    </inertial>
  </link>
  <!-- Outer JOINT -->
  <joint name="right_hand_v1_2_research_middle_middle_joint" type="revolute">
    <axis xyz="0 0 -1"/>
    <origin rpy="0 0 0" xyz="0.017 0 0"/>
    <parent link="right_hand_v1_2_research_middle_middle_virtual_link"/>
    <child link="right_hand_v1_2_research_middle_middle_link"/>
    <limit effort="30" lower="0.0" upper="0.785398" velocity="10.0"/>
    <dynamics damping="3e-2" friction="0.0"/>
  </joint>
  <!-- LINK -->
  <link name="right_hand_v1_2_research_middle_middle_link">
    <inertial>
      <mass value="0.0063"/>
      <inertia ixx="1.8024201e-07" ixy="5.756798e-09" ixz="0.0" iyy="2.3516266e-07" iyz="0.0" izz="2.691504e-07"/>
      <origin rpy="0 0 0" xyz="4.7601567e-03 -1.3786947e-03 0.0"/>
    </inertial>
    <visual>
      <origin rpy="0 0 0" xyz="0 0 0"/>
      <geometry>
        <mesh filename="package://softhands_description/meshes/v1_2_research/right/ph_short.stl" scale="0.001 0.001 0.001"/>
      </geometry>
      <material name="qbhand/palm"/>
    </visual>
    <collision>
      <origin rpy="0 0 0" xyz="0 0 0"/>
      <geometry>
        <mesh filename="package://softhands_description/meshes/v1_2_research/right/ph_short.stl" scale="0.001 0.001 0.001"/>
      </geometry>
    </collision>
  </link>
  <!-- GAZEBO REF -->
  <gazebo reference="right_hand_v1_2_research_middle_middle_link">
    <material>Gazebo/Grey</material>
    <selfCollide>0</selfCollide>
  </gazebo>
  <!-- GAZEBO REF -->
  <gazebo reference="right_hand_v1_2_research_middle_middle_joint">
    <implicitSpringDamper>true</implicitSpringDamper>
    <springStiffness>0.4</springStiffness>
    <springReference>0</springReference>
  </gazebo>
  <!-- GAZEBO REF -->
  <gazebo reference="right_hand_v1_2_research_middle_middle_virtual_joint">
    <implicitSpringDamper>true</implicitSpringDamper>
    <springStiffness>0.4</springStiffness>
    <springReference>0</springReference>
  </gazebo>
  <!-- Inner VIRTUAL JOINT -->
  <joint name="right_hand_v1_2_research_middle_distal_virtual_joint" type="revolute">
    <axis xyz="0 0 -1"/>
    <origin rpy="0 0 0" xyz="0.009 0 0"/>
    <parent link="right_hand_v1_2_research_middle_middle_link"/>
    <child link="right_hand_v1_2_research_middle_distal_virtual_link"/>
    <limit effort="30" lower="0.0" upper="0.785398" velocity="10.0"/>
    <dynamics damping="3e-2" friction="0.0"/>
  </joint>
  <!-- VIRTUAL LINK -->
  <link name="right_hand_v1_2_research_middle_distal_virtual_link">
    <inertial>
      <origin rpy="0 0 0" xyz="0 0 0"/>
      <mass value="0.009"/>
      <inertia ixx="2.6586142e-07" ixy="1.2416847e-08" ixz="0.0" iyy="5.9935767e-07" iyz="0.0" izz="6.6781963e-07"/>
    </inertial>
  </link>
  <!-- Outer JOINT -->
  <joint name="right_hand_v1_2_research_middle_distal_joint" type="revolute">
    <axis xyz="0 0 -1"/>
    <origin rpy="0 0 0" xyz="0.013 0 0"/>
    <parent link="right_hand_v1_2_research_middle_distal_virtual_link"/>
    <child link="right_hand_v1_2_research_middle_distal_link"/>
    <limit effort="30" lower="0.0" upper="0.785398" velocity="10.0"/>
    <dynamics damping="3e-2" friction="0.0"/>
  </joint>
  <!-- LINK -->
  <link name="right_hand_v1_2_research_middle_distal_link">
    <inertial>
      <mass value="0.009"/>
      <inertia ixx="2.6586142e-07" ixy="1.2416847e-08" ixz="0.0" iyy="5.9935767e-07" iyz="0.0" izz="6.6781963e-07"/>
      <origin rpy="0 0 0" xyz="8.8025467e-03 -1.7219289e-03 0.0"/>
    </inertial>
    <visual>
      <origin rpy="0 0 0" xyz="0 0 0"/>
      <geometry>
        <mesh filename="package://softhands_description/meshes/v1_2_research/right/ph_distal.stl" scale="0.001 0.001 0.001"/>
      </geometry>
      <material name="qbhand/palm"/>
    </visual>
    <collision>
      <origin rpy="0 0 0" xyz="0 0 0"/>
      <geometry>
        <mesh filename="package://softhands_description/meshes/v1_2_research/right/ph_distal.stl" scale="0.001 0.001 0.001"/>
      </geometry>
    </collision>
  </link>
  <!-- GAZEBO REF -->
  <gazebo reference="right_hand_v1_2_research_middle_distal_link">
    <material>Gazebo/Grey</material>
    <selfCollide>0</selfCollide>
  </gazebo>
  <!-- GAZEBO REF -->
  <gazebo reference="right_hand_v1_2_research_middle_distal_joint">
    <implicitSpringDamper>true</implicitSpringDamper>
    <springStiffness>0.4</springStiffness>
    <springReference>0</springReference>
  </gazebo>
  <!-- GAZEBO REF -->
  <gazebo reference="right_hand_v1_2_research_middle_distal_virtual_joint">
    <implicitSpringDamper>true</implicitSpringDamper>
    <springStiffness>0.4</springStiffness>
    <springReference>0</springReference>
  </gazebo>
  <!-- Proximal JOINT -->
  <joint name="right_hand_v1_2_research_ring_knuckle_joint" type="revolute">
    <origin rpy="0 0 1.57" xyz="0.02 -0.007 0.014"/>
    <parent link="right_hand_v1_2_research_palm_link"/>
    <child link="right_hand_v1_2_research_ring_knuckle_link"/>
    <axis xyz="0 0 -1"/>
    <limit effort="30" lower="-0.524" upper="0.524" velocity="10.0"/>
    <dynamics damping="3e-2" friction="0.0"/>
  </joint>
  <!-- LINK -->
  <link name="right_hand_v1_2_research_ring_knuckle_link">
    <inertial>
      <origin rpy="0 0 0" xyz="4.2753603e-04  0.0 -1.4321738e-03"/>
      <mass value="0.0095"/>
      <inertia ixx="6.4337303e-07" ixy="0.0" ixz="-3.9373913e-08" iyy="1.1253771e-06" iyz="0.0" izz="7.2336948e-07"/>
    </inertial>
    <visual>
      <origin rpy="0 0 0" xyz="0 0 0"/>
      <geometry>
        <mesh filename="package://softhands_description/meshes/v1_2_research/right/ph_knuckle.stl" scale="0.001 0.001 0.001"/>
      </geometry>
      <material name="qbhand/palm"/>
    </visual>
    <collision>
      <origin rpy="0 0 0" xyz="0 0 0"/>
      <geometry>
        <mesh filename="package://softhands_description/meshes/v1_2_research/right/ph_knuckle.stl" scale="0.001 0.001 0.001"/>
      </geometry>
    </collision>
  </link>
  <!-- GAZEBO REF -->
  <gazebo reference="right_hand_v1_2_research_ring_knuckle_link">
    <material>Gazebo/Grey</material>
    <selfCollide>0</selfCollide>
  </gazebo>
  <!-- GAZEBO REF -->
  <gazebo reference="right_hand_v1_2_research_ring_knuckle_joint">
    <implicitSpringDamper>true</implicitSpringDamper>
    <springStiffness>0.8</springStiffness>
    <springReference>0</springReference>
  </gazebo>
  <!-- Inner VIRTUAL JOINT -->
  <joint name="right_hand_v1_2_research_ring_proximal_virtual_joint" type="revolute">
    <axis xyz="0 0 -1"/>
    <origin rpy="1.57 0 0" xyz="0.009 0 0"/>
    <parent link="right_hand_v1_2_research_ring_knuckle_link"/>
    <child link="right_hand_v1_2_research_ring_proximal_virtual_link"/>
    <limit effort="30" lower="0.0" upper="0.785398" velocity="10.0"/>
    <dynamics damping="3e-2" friction="0.0"/>
  </joint>
  <!-- VIRTUAL LINK -->
  <link name="right_hand_v1_2_research_ring_proximal_virtual_link">
    <inertial>
      <origin rpy="0 0 0" xyz="0 0 0"/>
      <mass value="0.009"/>
      <inertia ixx="2.2722068e-07" ixy="1.1586053e-08" ixz="0.0" iyy="5.5947233e-07" iyz="0.0" izz="5.9562195e-07"/>
    </inertial>
  </link>
  <!-- Outer JOINT -->
  <joint name="right_hand_v1_2_research_ring_proximal_joint" type="revolute">
    <axis xyz="0 0 -1"/>
    <origin rpy="0.0 0 0" xyz="0.013 0 0"/>
    <parent link="right_hand_v1_2_research_ring_proximal_virtual_link"/>
    <child link="right_hand_v1_2_research_ring_proximal_link"/>
    <limit effort="30" lower="0.0" upper="0.785398" velocity="10.0"/>
    <dynamics damping="3e-2" friction="0.0"/>
  </joint>
  <!-- LINK -->
  <link name="right_hand_v1_2_research_ring_proximal_link">
    <inertial>
      <mass value="0.009"/>
      <inertia ixx="2.2722068e-07" ixy="1.1586053e-08" ixz="0.0" iyy="5.5947233e-07" iyz="0.0" izz="5.9562195e-07"/>
      <origin rpy="0 0 0" xyz="8.7707437e-03 -1.7863138e-03 0.0"/>
    </inertial>
    <visual>
      <origin rpy="0 0 0" xyz="0 0 0"/>
      <geometry>
        <mesh filename="package://softhands_description/meshes/v1_2_research/right/ph_medium.stl" scale="0.001 0.001 0.001"/>
      </geometry>
      <material name="qbhand/palm"/>
    </visual>
    <collision>
      <origin rpy="0 0 0" xyz="0 0 0"/>
      <geometry>
        <mesh filename="package://softhands_description/meshes/v1_2_research/right/ph_medium.stl" scale="0.001 0.001 0.001"/>
      </geometry>
    </collision>
  </link>
  <!-- GAZEBO REF -->
  <gazebo reference="right_hand_v1_2_research_ring_proximal_link">
    <material>Gazebo/Grey</material>
    <selfCollide>0</selfCollide>
  </gazebo>
  <!-- GAZEBO REF -->
  <gazebo reference="right_hand_v1_2_research_ring_proximal_joint">
    <implicitSpringDamper>true</implicitSpringDamper>
    <springStiffness>0.4</springStiffness>
    <springReference>0</springReference>
  </gazebo>
  <!-- GAZEBO REF -->
  <gazebo reference="right_hand_v1_2_research_ring_proximal_virtual_joint">
    <implicitSpringDamper>true</implicitSpringDamper>
    <springStiffness>0.4</springStiffness>
    <springReference>0</springReference>
  </gazebo>
  <!-- Inner VIRTUAL JOINT -->
  <joint name="right_hand_v1_2_research_ring_middle_virtual_joint" type="revolute">
    <axis xyz="0 0 -1"/>
    <origin rpy="0.0 0.0 0.0" xyz="0.013 0 0 "/>
    <parent link="right_hand_v1_2_research_ring_proximal_link"/>
    <child link="right_hand_v1_2_research_ring_middle_virtual_link"/>
    <limit effort="30" lower="0.0" upper="0.785398" velocity="10.0"/>
    <dynamics damping="3e-2" friction="0.0"/>
  </joint>
  <!-- VIRTUAL LINK -->
  <link name="right_hand_v1_2_research_ring_middle_virtual_link">
    <inertial>
      <origin rpy="0 0 0" xyz="0 0 0"/>
      <mass value="0.0063"/>
      <inertia ixx="1.8024201e-07" ixy="5.756798e-09" ixz="0.0" iyy="2.3516266e-07" iyz="0.0" izz="2.691504e-07"/>
    </inertial>
  </link>
  <!-- Outer JOINT -->
  <joint name="right_hand_v1_2_research_ring_middle_joint" type="revolute">
    <axis xyz="0 0 -1"/>
    <origin rpy="0 0 0" xyz="0.017 0 0"/>
    <parent link="right_hand_v1_2_research_ring_middle_virtual_link"/>
    <child link="right_hand_v1_2_research_ring_middle_link"/>
    <limit effort="30" lower="0.0" upper="0.785398" velocity="10.0"/>
    <dynamics damping="3e-2" friction="0.0"/>
  </joint>
  <!-- LINK -->
  <link name="right_hand_v1_2_research_ring_middle_link">
    <inertial>
      <mass value="0.0063"/>
      <inertia ixx="1.8024201e-07" ixy="5.756798e-09" ixz="0.0" iyy="2.3516266e-07" iyz="0.0" izz="2.691504e-07"/>
      <origin rpy="0 0 0" xyz="4.7601567e-03 -1.3786947e-03 0.0"/>
    </inertial>
    <visual>
      <origin rpy="0 0 0" xyz="0 0 0"/>
      <geometry>
        <mesh filename="package://softhands_description/meshes/v1_2_research/right/ph_short.stl" scale="0.001 0.001 0.001"/>
      </geometry>
      <material name="qbhand/palm"/>
    </visual>
    <collision>
      <origin rpy="0 0 0" xyz="0 0 0"/>
      <geometry>
        <mesh filename="package://softhands_description/meshes/v1_2_research/right/ph_short.stl" scale="0.001 0.001 0.001"/>
      </geometry>
    </collision>
  </link>
  <!-- GAZEBO REF -->
  <gazebo reference="right_hand_v1_2_research_ring_middle_link">
    <material>Gazebo/Grey</material>
    <selfCollide>0</selfCollide>
  </gazebo>
  <!-- GAZEBO REF -->
  <gazebo reference="right_hand_v1_2_research_ring_middle_joint">
    <implicitSpringDamper>true</implicitSpringDamper>
    <springStiffness>0.4</springStiffness>
    <springReference>0</springReference>
  </gazebo>
  <!-- GAZEBO REF -->
  <gazebo reference="right_hand_v1_2_research_ring_middle_virtual_joint">
    <implicitSpringDamper>true</implicitSpringDamper>
    <springStiffness>0.4</springStiffness>
    <springReference>0</springReference>
  </gazebo>
  <!-- Inner VIRTUAL JOINT -->
  <joint name="right_hand_v1_2_research_ring_distal_virtual_joint" type="revolute">
    <axis xyz="0 0 -1"/>
    <origin rpy="0 0 0" xyz="0.009 0 0"/>
    <parent link="right_hand_v1_2_research_ring_middle_link"/>
    <child link="right_hand_v1_2_research_ring_distal_virtual_link"/>
    <limit effort="30" lower="0.0" upper="0.785398" velocity="10.0"/>
    <dynamics damping="3e-2" friction="0.0"/>
  </joint>
  <!-- VIRTUAL LINK -->
  <link name="right_hand_v1_2_research_ring_distal_virtual_link">
    <inertial>
      <origin rpy="0 0 0" xyz="0 0 0"/>
      <mass value="0.009"/>
      <inertia ixx="2.6586142e-07" ixy="1.2416847e-08" ixz="0.0" iyy="5.9935767e-07" iyz="0.0" izz="6.6781963e-07"/>
    </inertial>
  </link>
  <!-- Outer JOINT -->
  <joint name="right_hand_v1_2_research_ring_distal_joint" type="revolute">
    <axis xyz="0 0 -1"/>
    <origin rpy="0 0 0" xyz="0.013 0 0"/>
    <parent link="right_hand_v1_2_research_ring_distal_virtual_link"/>
    <child link="right_hand_v1_2_research_ring_distal_link"/>
    <limit effort="30" lower="0.0" upper="0.785398" velocity="10.0"/>
    <dynamics damping="3e-2" friction="0.0"/>
  </joint>
  <!-- LINK -->
  <link name="right_hand_v1_2_research_ring_distal_link">
    <inertial>
      <mass value="0.009"/>
      <inertia ixx="2.6586142e-07" ixy="1.2416847e-08" ixz="0.0" iyy="5.9935767e-07" iyz="0.0" izz="6.6781963e-07"/>
      <origin rpy="0 0 0" xyz="8.8025467e-03 -1.7219289e-03 0.0"/>
    </inertial>
    <visual>
      <origin rpy="0 0 0" xyz="0 0 0"/>
      <geometry>
        <mesh filename="package://softhands_description/meshes/v1_2_research/right/ph_distal.stl" scale="0.001 0.001 0.001"/>
      </geometry>
      <material name="qbhand/palm"/>
    </visual>
    <collision>
      <origin rpy="0 0 0" xyz="0 0 0"/>
      <geometry>
        <mesh filename="package://softhands_description/meshes/v1_2_research/right/ph_distal.stl" scale="0.001 0.001 0.001"/>
      </geometry>
    </collision>
  </link>
  <!-- GAZEBO REF -->
  <gazebo reference="right_hand_v1_2_research_ring_distal_link">
    <material>Gazebo/Grey</material>
    <selfCollide>0</selfCollide>
  </gazebo>
  <!-- GAZEBO REF -->
  <gazebo reference="right_hand_v1_2_research_ring_distal_joint">
    <implicitSpringDamper>true</implicitSpringDamper>
    <springStiffness>0.4</springStiffness>
    <springReference>0</springReference>
  </gazebo>
  <!-- GAZEBO REF -->
  <gazebo reference="right_hand_v1_2_research_ring_distal_virtual_joint">
    <implicitSpringDamper>true</implicitSpringDamper>
    <springStiffness>0.4</springStiffness>
    <springReference>0</springReference>
  </gazebo>
  <!-- Proximal JOINT -->
  <joint name="right_hand_v1_2_research_little_knuckle_joint" type="revolute">
    <origin rpy="0 0 1.57" xyz="0.04 -0.012 0.014"/>
    <parent link="right_hand_v1_2_research_palm_link"/>
    <child link="right_hand_v1_2_research_little_knuckle_link"/>
    <axis xyz="0 0 -1"/>
    <limit effort="30" lower="-0.524" upper="0.524" velocity="10.0"/>
    <dynamics damping="3e-2" friction="0.0"/>
  </joint>
  <!-- LINK -->
  <link name="right_hand_v1_2_research_little_knuckle_link">
    <inertial>
      <origin rpy="0 0 0" xyz="4.2753603e-04  0.0 -1.4321738e-03"/>
      <mass value="0.0095"/>
      <inertia ixx="6.4337303e-07" ixy="0.0" ixz="-3.9373913e-08" iyy="1.1253771e-06" iyz="0.0" izz="7.2336948e-07"/>
    </inertial>
    <visual>
      <origin rpy="0 0 0" xyz="0 0 0"/>
      <geometry>
        <mesh filename="package://softhands_description/meshes/v1_2_research/right/ph_knuckle.stl" scale="0.001 0.001 0.001"/>
      </geometry>
      <material name="qbhand/palm"/>
    </visual>
    <collision>
      <origin rpy="0 0 0" xyz="0 0 0"/>
      <geometry>
        <mesh filename="package://softhands_description/meshes/v1_2_research/right/ph_knuckle.stl" scale="0.001 0.001 0.001"/>
      </geometry>
    </collision>
  </link>
  <!-- GAZEBO REF -->
  <gazebo reference="right_hand_v1_2_research_little_knuckle_link">
    <material>Gazebo/Grey</material>
    <selfCollide>0</selfCollide>
  </gazebo>
  <!-- GAZEBO REF -->
  <gazebo reference="right_hand_v1_2_research_little_knuckle_joint">
    <implicitSpringDamper>true</implicitSpringDamper>
    <springStiffness>0.8</springStiffness>
    <springReference>0</springReference>
  </gazebo>
  <!-- Inner VIRTUAL JOINT -->
  <joint name="right_hand_v1_2_research_little_proximal_virtual_joint" type="revolute">
    <axis xyz="0 0 -1"/>
    <origin rpy="1.57 0 0" xyz="0.009 0 0"/>
    <parent link="right_hand_v1_2_research_little_knuckle_link"/>
    <child link="right_hand_v1_2_research_little_proximal_virtual_link"/>
    <limit effort="30" lower="0.0" upper="0.785398" velocity="10.0"/>
    <dynamics damping="3e-2" friction="0.0"/>
  </joint>
  <!-- VIRTUAL LINK -->
  <link name="right_hand_v1_2_research_little_proximal_virtual_link">
    <inertial>
      <origin rpy="0 0 0" xyz="0 0 0"/>
      <mass value="0.009"/>
      <inertia ixx="2.2722068e-07" ixy="1.1586053e-08" ixz="0.0" iyy="5.5947233e-07" iyz="0.0" izz="5.9562195e-07"/>
    </inertial>
  </link>
  <!-- Outer JOINT -->
  <joint name="right_hand_v1_2_research_little_proximal_joint" type="revolute">
    <axis xyz="0 0 -1"/>
    <origin rpy="0.0 0 0" xyz="0.013 0 0"/>
    <parent link="right_hand_v1_2_research_little_proximal_virtual_link"/>
    <child link="right_hand_v1_2_research_little_proximal_link"/>
    <limit effort="30" lower="0.0" upper="0.785398" velocity="10.0"/>
    <dynamics damping="3e-2" friction="0.0"/>
  </joint>
  <!-- LINK -->
  <link name="right_hand_v1_2_research_little_proximal_link">
    <inertial>
      <mass value="0.009"/>
      <inertia ixx="2.2722068e-07" ixy="1.1586053e-08" ixz="0.0" iyy="5.5947233e-07" iyz="0.0" izz="5.9562195e-07"/>
      <origin rpy="0 0 0" xyz="8.7707437e-03 -1.7863138e-03 0.0"/>
    </inertial>
    <visual>
      <origin rpy="0 0 0" xyz="0 0 0"/>
      <geometry>
        <mesh filename="package://softhands_description/meshes/v1_2_research/right/ph_medium.stl" scale="0.001 0.001 0.001"/>
      </geometry>
      <material name="qbhand/palm"/>
    </visual>
    <collision>
      <origin rpy="0 0 0" xyz="0 0 0"/>
      <geometry>
        <mesh filename="package://softhands_description/meshes/v1_2_research/right/ph_medium.stl" scale="0.001 0.001 0.001"/>
      </geometry>
    </collision>
  </link>
  <!-- GAZEBO REF -->
  <gazebo reference="right_hand_v1_2_research_little_proximal_link">
    <material>Gazebo/Grey</material>
    <selfCollide>0</selfCollide>
  </gazebo>
  <!-- GAZEBO REF -->
  <gazebo reference="right_hand_v1_2_research_little_proximal_joint">
    <implicitSpringDamper>true</implicitSpringDamper>
    <springStiffness>0.4</springStiffness>
    <springReference>0</springReference>
  </gazebo>
  <!-- GAZEBO REF -->
  <gazebo reference="right_hand_v1_2_research_little_proximal_virtual_joint">
    <implicitSpringDamper>true</implicitSpringDamper>
    <springStiffness>0.4</springStiffness>
    <springReference>0</springReference>
  </gazebo>
  <!-- Inner VIRTUAL JOINT -->
  <joint name="right_hand_v1_2_research_little_middle_virtual_joint" type="revolute">
    <axis xyz="0 0 -1"/>
    <origin rpy="0.0 0.0 0.0" xyz="0.013 0 0 "/>
    <parent link="right_hand_v1_2_research_little_proximal_link"/>
    <child link="right_hand_v1_2_research_little_middle_virtual_link"/>
    <limit effort="30" lower="0.0" upper="0.785398" velocity="10.0"/>
    <dynamics damping="3e-2" friction="0.0"/>
  </joint>
  <!-- VIRTUAL LINK -->
  <link name="right_hand_v1_2_research_little_middle_virtual_link">
    <inertial>
      <origin rpy="0 0 0" xyz="0 0 0"/>
      <mass value="0.0063"/>
      <inertia ixx="1.8024201e-07" ixy="5.756798e-09" ixz="0.0" iyy="2.3516266e-07" iyz="0.0" izz="2.691504e-07"/>
    </inertial>
  </link>
  <!-- Outer JOINT -->
  <joint name="right_hand_v1_2_research_little_middle_joint" type="revolute">
    <axis xyz="0 0 -1"/>
    <origin rpy="0 0 0" xyz="0.017 0 0"/>
    <parent link="right_hand_v1_2_research_little_middle_virtual_link"/>
    <child link="right_hand_v1_2_research_little_middle_link"/>
    <limit effort="30" lower="0.0" upper="0.785398" velocity="10.0"/>
    <dynamics damping="3e-2" friction="0.0"/>
  </joint>
  <!-- LINK -->
  <link name="right_hand_v1_2_research_little_middle_link">
    <inertial>
      <mass value="0.0063"/>
      <inertia ixx="1.8024201e-07" ixy="5.756798e-09" ixz="0.0" iyy="2.3516266e-07" iyz="0.0" izz="2.691504e-07"/>
      <origin rpy="0 0 0" xyz="4.7601567e-03 -1.3786947e-03 0.0"/>
    </inertial>
    <visual>
      <origin rpy="0 0 0" xyz="0 0 0"/>
      <geometry>
        <mesh filename="package://softhands_description/meshes/v1_2_research/right/ph_short.stl" scale="0.001 0.001 0.001"/>
      </geometry>
      <material name="qbhand/palm"/>
    </visual>
    <collision>
      <origin rpy="0 0 0" xyz="0 0 0"/>
      <geometry>
        <mesh filename="package://softhands_description/meshes/v1_2_research/right/ph_short.stl" scale="0.001 0.001 0.001"/>
      </geometry>
    </collision>
  </link>
  <!-- GAZEBO REF -->
  <gazebo reference="right_hand_v1_2_research_little_middle_link">
    <material>Gazebo/Grey</material>
    <selfCollide>0</selfCollide>
  </gazebo>
  <!-- GAZEBO REF -->
  <gazebo reference="right_hand_v1_2_research_little_middle_joint">
    <implicitSpringDamper>true</implicitSpringDamper>
    <springStiffness>0.4</springStiffness>
    <springReference>0</springReference>
  </gazebo>
  <!-- GAZEBO REF -->
  <gazebo reference="right_hand_v1_2_research_little_middle_virtual_joint">
    <implicitSpringDamper>true</implicitSpringDamper>
    <springStiffness>0.4</springStiffness>
    <springReference>0</springReference>
  </gazebo>
  <!-- Inner VIRTUAL JOINT -->
  <joint name="right_hand_v1_2_research_little_distal_virtual_joint" type="revolute">
    <axis xyz="0 0 -1"/>
    <origin rpy="0 0 0" xyz="0.009 0 0"/>
    <parent link="right_hand_v1_2_research_little_middle_link"/>
    <child link="right_hand_v1_2_research_little_distal_virtual_link"/>
    <limit effort="30" lower="0.0" upper="0.785398" velocity="10.0"/>
    <dynamics damping="3e-2" friction="0.0"/>
  </joint>
  <!-- VIRTUAL LINK -->
  <link name="right_hand_v1_2_research_little_distal_virtual_link">
    <inertial>
      <origin rpy="0 0 0" xyz="0 0 0"/>
      <mass value="0.009"/>
      <inertia ixx="2.6586142e-07" ixy="1.2416847e-08" ixz="0.0" iyy="5.9935767e-07" iyz="0.0" izz="6.6781963e-07"/>
    </inertial>
  </link>
  <!-- Outer JOINT -->
  <joint name="right_hand_v1_2_research_little_distal_joint" type="revolute">
    <axis xyz="0 0 -1"/>
    <origin rpy="0 0 0" xyz="0.013 0 0"/>
    <parent link="right_hand_v1_2_research_little_distal_virtual_link"/>
    <child link="right_hand_v1_2_research_little_distal_link"/>
    <limit effort="30" lower="0.0" upper="0.785398" velocity="10.0"/>
    <dynamics damping="3e-2" friction="0.0"/>
  </joint>
  <!-- LINK -->
  <link name="right_hand_v1_2_research_little_distal_link">
    <inertial>
      <mass value="0.009"/>
      <inertia ixx="2.6586142e-07" ixy="1.2416847e-08" ixz="0.0" iyy="5.9935767e-07" iyz="0.0" izz="6.6781963e-07"/>
      <origin rpy="0 0 0" xyz="8.8025467e-03 -1.7219289e-03 0.0"/>
    </inertial>
    <visual>
      <origin rpy="0 0 0" xyz="0 0 0"/>
      <geometry>
        <mesh filename="package://softhands_description/meshes/v1_2_research/right/ph_distal.stl" scale="0.001 0.001 0.001"/>
      </geometry>
      <material name="qbhand/palm"/>
    </visual>
    <collision>
      <origin rpy="0 0 0" xyz="0 0 0"/>
      <geometry>
        <mesh filename="package://softhands_description/meshes/v1_2_research/right/ph_distal.stl" scale="0.001 0.001 0.001"/>
      </geometry>
    </collision>
  </link>
  <!-- GAZEBO REF -->
  <gazebo reference="right_hand_v1_2_research_little_distal_link">
    <material>Gazebo/Grey</material>
    <selfCollide>0</selfCollide>
  </gazebo>
  <!-- GAZEBO REF -->
  <gazebo reference="right_hand_v1_2_research_little_distal_joint">
    <implicitSpringDamper>true</implicitSpringDamper>
    <springStiffness>0.4</springStiffness>
    <springReference>0</springReference>
  </gazebo>
  <!-- GAZEBO REF -->
  <gazebo reference="right_hand_v1_2_research_little_distal_virtual_joint">
    <implicitSpringDamper>true</implicitSpringDamper>
    <springStiffness>0.4</springStiffness>
    <springReference>0</springReference>
  </gazebo>
  <!-- IF VERSION == 1_wide -->
</robot>
